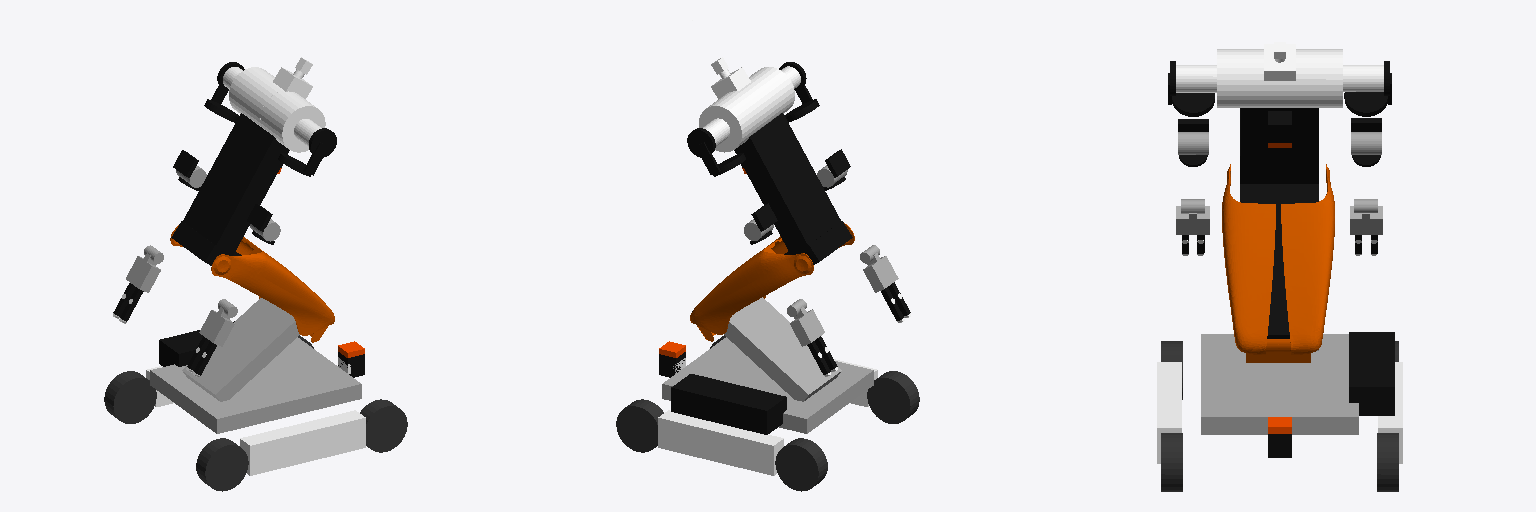
--- Render facts (derived) ---
Views: 3 orthographic renders of the robot side by side, from view 1: azimuth 30°, elevation 25°; view 2: azimuth 150°, elevation 25°; view 3: azimuth 270°, elevation 25°.
Model sergio with 79 links and 78 joints (28 revolute, 50 fixed), rooted at base_link, posed all joints at 0 but 3 set to mid-range because 0 is outside their limits (ankle_joint = 0.576, knee_joint = 1.24, hip_joint = 1.66).
Visible links, largest first — view 1: torso_mounting_frame, trunk_inside, lower_rear_leg, upper_leg, sidepot_right, shoulder_mount_right, wheel_right_rear, wheel_left_rear, wheel_right_front, shoulder_mount_left, batteries, upper_leg_inside (+3 smaller); view 2: trunk_inside, torso_mounting_frame, lower_rear_leg, upper_leg, sidepot_left, batteries, shoulder_mount_left, wheel_left_rear, wheel_right_rear, wheel_left_front, shoulder_mount_right, upper_leg_inside (+3 smaller); view 3: upper_leg, torso_mounting_frame, trunk_inside, batteries, shoulder_mount_right, upper_leg_inside, shoulder_mount_left, sidepot_right, wheel_right_front, wheel_left_front, pitch_axis_right, pitch_axis_left (+10 smaller).
Link boxes in pixels (box(x1,y1,x2,y2)): torso_mounting_frame: box(150, 337, 361, 433); trunk_inside: box(183, 113, 289, 257); lower_rear_leg: box(182, 298, 299, 401); upper_leg: box(170, 225, 334, 342); sidepot_right: box(240, 410, 365, 475); shoulder_mount_right: box(261, 91, 325, 152); wheel_right_rear: box(196, 438, 248, 491); wheel_left_rear: box(104, 371, 156, 423); wheel_right_front: box(360, 399, 407, 452); shoulder_mount_left: box(229, 67, 283, 126); batteries: box(159, 321, 234, 366); upper_leg_inside: box(171, 221, 241, 265); trunk_inside: box(734, 113, 840, 255); torso_mounting_frame: box(662, 337, 873, 433); lower_rear_leg: box(724, 297, 841, 401); upper_leg: box(690, 223, 854, 341); sidepot_left: box(658, 410, 783, 475); batteries: box(671, 374, 786, 434); shoulder_mount_left: box(699, 83, 773, 152); wheel_left_rear: box(775, 438, 827, 491); wheel_right_rear: box(867, 371, 919, 423); wheel_left_front: box(616, 399, 663, 452); shoulder_mount_right: box(749, 67, 794, 119); upper_leg_inside: box(692, 221, 852, 311); upper_leg: box(1222, 164, 1334, 362); torso_mounting_frame: box(1201, 334, 1358, 434); trunk_inside: box(1240, 108, 1318, 183); batteries: box(1349, 332, 1394, 415); shoulder_mount_right: box(1217, 49, 1291, 107); upper_leg_inside: box(1240, 184, 1318, 338); shoulder_mount_left: box(1292, 49, 1342, 107); sidepot_right: box(1157, 362, 1181, 463); wheel_right_front: box(1161, 433, 1182, 491); wheel_left_front: box(1377, 433, 1398, 491); pitch_axis_right: box(1176, 65, 1216, 92); pitch_axis_left: box(1343, 65, 1383, 91).
Size in the robot's own frame: 0.7147 by 0.623 by 1.31 metres.
Meshes: 6 distinct files referenced, 1 mesh visuals loaded (1 Collada DAE); not drawn: 7 (reference not matched to a file when rendering).

robot.urdf — sergio:
<?xml version="1.0" ?>
<!-- =================================================================================== -->
<!-- |    This document was autogenerated by xacro from [local-path]/ros/hydro/system/src/sergio_description/scripts/../urdf/xacro/sergio.urdf.xacro | -->
<!-- |    EDITING THIS FILE BY HAND IS NOT RECOMMENDED                                 | -->
<!-- =================================================================================== -->
<robot name="sergio" xmlns:controller="http://playerstage.sourceforge.net/gazebo/xmlschema/#controller" xmlns:interface="http://playerstage.sourceforge.net/gazebo/xmlschema/#interface" xmlns:sensor="http://playerstage.sourceforge.net/gazebo/xmlschema/#sensor" xmlns:xacro="http://ros.org/wiki/xacro">
  <!--xmlns:sensor="http://playerstage.sourceforge.net/gazebo/xmlschema/#sensor"
       xmlns:controller="http://playerstage.sourceforge.net/gazebo/xmlschema/#controller"
       xmlns:interface="http://playerstage.sourceforge.net/gazebo/xmlschema/#interface">-->
  <author>Janno Lunenburg</author>
  <license>BSD</license>
  <review notes="" status="unreviewed"/>
  <!-- ToDo: In general: look at DH conventions-->
  <!--get link & joint definitions -->
  <!--Definitions from default package?-->
  <!--get link & joint definitions -->
  <!--<xacro:include filename="$(find sergio_robot_model)/description/definitions.xacro" />-->
  <author>Kris van Tienhoven</author>
  <license>BSD</license>
  <review notes="" status="unreviewed"/>
  <!--get custom materials -->
  <author>Kris van Tienhoven</author>
  <license>BSD</license>
  <review notes="" status="unreviewed"/>
  <material name="Blue">
    <color rgba="0.0 0.0 0.8 1.0"/>
  </material>
  <material name="Green">
    <color rgba="0.0 0.8 0.0 1.0"/>
  </material>
  <material name="Grey">
    <color rgba="0.7 0.7 0.7 1.0"/>
  </material>
  <material name="Grey2">
    <color rgba="0.9 0.9 0.9 1.0"/>
  </material>
  <material name="Red">
    <color rgba="0.8 0.0 0.0 1.0"/>
  </material>
  <material name="White">
    <color rgba="1.0 1.0 1.0 1.0"/>
  </material>
  <material name="Black">
    <color rgba="0.1 0.1 0.1 1.0"/>
  </material>
  <material name="LightGrey">
    <color rgba="0.6 0.6 0.6 1.0"/>
  </material>
  <material name="DarkGrey">
    <color rgba="0.25 0.25 0.25 1.0"/>
  </material>
  <material name="Orange">
    <color rgba="1.0 0.33 0.0 1.0"/>
  </material>
  <material name="sergio_description/bottomcovers">
    <texture filename="package://sergio_description/media/materials/textures/bottomcovers/finalreduced.jpg"/>
  </material>
  <material name="sergio_description/white">
    <texture filename="package://sergio_description/media/materials/textures/white/white.jpg"/>
  </material>
  <material name="sergio_description/logo">
    <texture filename="package://sergio_description/media/materials/textures/logo/tue.jpg"/>
  </material>
  <material name="sergio_description/aluminium">
    <texture filename="package://sergio_description/media/materials/textures/aluminium/aluminium_0001_c.jpg"/>
  </material>
  <material name="sergio_description/orange">
    <texture filename="package://sergio_description/media/materials/textures/orange/orange.jpg"/>
  </material>
  <!--========BUILD BASE======-->
  <author>Janno Lunenburg</author>
  <license>BSD</license>
  <review notes="" status="unreviewed"/>
  <link name="base_link">
    <inertial>
      <origin rpy="0 0 0" xyz="0.0 0.0 0.0"/>
      <mass value="0"/>
      <inertia ixx="0" ixy="0" ixz="0" iyy="0" iyz="0" izz="0"/>
    </inertial>
    <visual>
      <origin rpy="0 0 0" xyz="0.0 0.0 0.0"/>
      <geometry>
        <cylinder length="0.00" radius="0.0"/>
      </geometry>
      <material name="White">
     </material>
    </visual>
    <collision>
      <origin rpy="0 0 0" xyz="0.0 0.0 0.0"/>
      <geometry>
        <cylinder length="0.00" radius="0.0"/>
      </geometry>
    </collision>
  </link>
  <gazebo reference="base_link">
    <material>Gazebo/White</material>
    <turnGravityOff>false</turnGravityOff>
  </gazebo>
  <link name="base">
    <inertial>
      <origin rpy="0 0 1.57" xyz="-0.295 0.10 -0.14"/>
      <mass value="0.1"/>
      <inertia ixx="0.001" ixy="0" ixz="0" iyy="0.001" iyz="0" izz="0.001"/>
    </inertial>
    <visual>
      <origin rpy="0 0 1.57" xyz="-0.295 0.10 -0.14"/>
      <geometry>
        <mesh filename="package://sergio_description/media/meshes/Base2.dae" scale="0.01 0.01 0.01"/>
      </geometry>
      <material name="sergio_description/white"/>
    </visual>
    <collision>
      <origin rpy="0 0 1.57" xyz="-0.295 0.10 -0.14"/>
      <geometry>
        <mesh filename="package://sergio_description/media/meshes/Base2.dae" scale="0.01 0.01 0.01"/>
      </geometry>
    </collision>
  </link>
  <gazebo reference="base">
    <material>sergio_description/white</material>
    <turnGravityOff>false</turnGravityOff>
  </gazebo>
  <link name="sidepot_left">
    <inertial>
      <origin rpy="0 0 0" xyz="0.0 0.0 0.0"/>
      <mass value="0.1"/>
      <inertia ixx="0.001" ixy="0" ixz="0" iyy="0.001" iyz="0" izz="0.001"/>
    </inertial>
    <visual>
      <origin rpy="0 0 0" xyz="0.0 0.0 0.0"/>
      <geometry>
        <box size="0.400 0.0615 0.1"/>
      </geometry>
      <material name="White">
     </material>
    </visual>
    <collision>
      <origin rpy="0 0 0" xyz="0.0 0.0 0.0"/>
      <geometry>
        <box size="0.400 0.0615 0.1"/>
      </geometry>
    </collision>
  </link>
  <gazebo reference="sidepot_left">
    <material>Gazebo/White</material>
    <turnGravityOff>false</turnGravityOff>
  </gazebo>
  <link name="sidepot_right">
    <inertial>
      <origin rpy="0 0 0" xyz="0.0 0.0 0.0"/>
      <mass value="0.1"/>
      <inertia ixx="0.001" ixy="0" ixz="0" iyy="0.001" iyz="0" izz="0.001"/>
    </inertial>
    <visual>
      <origin rpy="0 0 0" xyz="0.0 0.0 0.0"/>
      <geometry>
        <box size="0.400 0.0615 0.1"/>
      </geometry>
      <material name="White">
     </material>
    </visual>
    <collision>
      <origin rpy="0 0 0" xyz="0.0 0.0 0.0"/>
      <geometry>
        <box size="0.400 0.0615 0.1"/>
      </geometry>
    </collision>
  </link>
  <gazebo reference="sidepot_right">
    <material>Gazebo/White</material>
    <turnGravityOff>false</turnGravityOff>
  </gazebo>
  <link name="base_torso_mount">
    <inertial>
      <origin rpy="0 0 0" xyz="0.0 0.0 0.0"/>
      <mass value="0"/>
      <inertia ixx="0" ixy="0" ixz="0" iyy="0" iyz="0" izz="0"/>
    </inertial>
    <visual>
      <origin rpy="0 0 0" xyz="0.0 0.0 0.0"/>
      <geometry>
        <cylinder length="0.00" radius="0.0"/>
      </geometry>
      <material name="White">
     </material>
    </visual>
    <collision>
      <origin rpy="0 0 0" xyz="0.0 0.0 0.0"/>
      <geometry>
        <cylinder length="0.00" radius="0.0"/>
      </geometry>
    </collision>
  </link>
  <gazebo reference="base_torso_mount">
    <material>Gazebo/White</material>
    <turnGravityOff>false</turnGravityOff>
  </gazebo>
  <link name="laser_mount">
    <inertial>
      <origin rpy="0 0 0" xyz="0.005 0.0 0.0175"/>
      <mass value="0.01"/>
      <inertia ixx="0.0001" ixy="0" ixz="0" iyy="0.0001" iyz="0" izz="0.0001"/>
    </inertial>
    <visual>
      <origin rpy="0 0 0" xyz="0.005 0.0 0.0175"/>
      <geometry>
        <box size="0.01 0.06 0.035"/>
      </geometry>
      <material name="White">
     </material>
    </visual>
    <collision>
      <origin rpy="0 0 0" xyz="0.005 0.0 0.0175"/>
      <geometry>
        <box size="0.01 0.06 0.035"/>
      </geometry>
    </collision>
  </link>
  <gazebo reference="laser_mount">
    <material>Gazebo/White</material>
    <turnGravityOff>false</turnGravityOff>
  </gazebo>
  <link name="wheel_right_front">
    <inertial>
      <origin rpy="0.0 0 0" xyz="0.0 0.0 0.0"/>
      <mass value="0"/>
      <inertia ixx="0" ixy="0" ixz="0" iyy="0" iyz="0" izz="0"/>
    </inertial>
    <visual>
      <origin rpy="0.0 0 0" xyz="0.0 0.0 0.0"/>
      <geometry>
        <cylinder length="0.055" radius="0.075"/>
      </geometry>
      <material name="DarkGrey">
     </material>
    </visual>
    <collision>
      <origin rpy="0.0 0 0" xyz="0.0 0.0 0.0"/>
      <geometry>
        <cylinder length="0.055" radius="0.075"/>
      </geometry>
    </collision>
  </link>
  <gazebo reference="wheel_right_front">
    <material>Gazebo/DarkGrey</material>
    <turnGravityOff>false</turnGravityOff>
  </gazebo>
  <link name="wheel_left_front">
    <inertial>
      <origin rpy="0.0 0 0" xyz="0.0 0.0 0.0"/>
      <mass value="0"/>
      <inertia ixx="0" ixy="0" ixz="0" iyy="0" iyz="0" izz="0"/>
    </inertial>
    <visual>
      <origin rpy="0.0 0 0" xyz="0.0 0.0 0.0"/>
      <geometry>
        <cylinder length="0.055" radius="0.075"/>
      </geometry>
      <material name="DarkGrey">
     </material>
    </visual>
    <collision>
      <origin rpy="0.0 0 0" xyz="0.0 0.0 0.0"/>
      <geometry>
        <cylinder length="0.055" radius="0.075"/>
      </geometry>
    </collision>
  </link>
  <gazebo reference="wheel_left_front">
    <material>Gazebo/DarkGrey</material>
    <turnGravityOff>false</turnGravityOff>
  </gazebo>
  <link name="wheel_right_rear">
    <inertial>
      <origin rpy="0.0 0 0" xyz="0.0 0.0 0.0"/>
      <mass value="0"/>
      <inertia ixx="0" ixy="0" ixz="0" iyy="0" iyz="0" izz="0"/>
    </inertial>
    <visual>
      <origin rpy="0.0 0 0" xyz="0.0 0.0 0.0"/>
      <geometry>
        <cylinder length="0.055" radius="0.075"/>
      </geometry>
      <material name="DarkGrey">
     </material>
    </visual>
    <collision>
      <origin rpy="0.0 0 0" xyz="0.0 0.0 0.0"/>
      <geometry>
        <cylinder length="0.055" radius="0.075"/>
      </geometry>
    </collision>
  </link>
  <gazebo reference="wheel_right_rear">
    <material>Gazebo/DarkGrey</material>
    <turnGravityOff>false</turnGravityOff>
  </gazebo>
  <link name="wheel_left_rear">
    <inertial>
      <origin rpy="0.0 0 0" xyz="0.0 0.0 0.0"/>
      <mass value="0"/>
      <inertia ixx="0" ixy="0" ixz="0" iyy="0" iyz="0" izz="0"/>
    </inertial>
    <visual>
      <origin rpy="0.0 0 0" xyz="0.0 0.0 0.0"/>
      <geometry>
        <cylinder length="0.055" radius="0.075"/>
      </geometry>
      <material name="DarkGrey">
     </material>
    </visual>
    <collision>
      <origin rpy="0.0 0 0" xyz="0.0 0.0 0.0"/>
      <geometry>
        <cylinder length="0.055" radius="0.075"/>
      </geometry>
    </collision>
  </link>
  <gazebo reference="wheel_left_rear">
    <material>Gazebo/DarkGrey</material>
    <turnGravityOff>false</turnGravityOff>
  </gazebo>
  <link name="batteries">
    <inertial>
      <origin rpy="0 0 0" xyz="0.0 0.0 0.0"/>
      <mass value="0.1"/>
      <inertia ixx="0.001" ixy="0" ixz="0" iyy="0.001" iyz="0" izz="0.001"/>
    </inertial>
    <visual>
      <origin rpy="0 0 0" xyz="0.0 0.0 0.0"/>
      <geometry>
        <box size="0.332 0.117 0.08"/>
      </geometry>
      <material name="Black">
     </material>
    </visual>
    <collision>
      <origin rpy="0 0 0" xyz="0.0 0.0 0.0"/>
      <geometry>
        <box size="0.332 0.117 0.08"/>
      </geometry>
    </collision>
  </link>
  <gazebo reference="batteries">
    <material>Gazebo/Black</material>
    <turnGravityOff>false</turnGravityOff>
  </gazebo>
  <joint name="base_link_joint" type="fixed">
    <parent link="base_link"/>
    <child link="base"/>
    <axis xyz="1 0 0"/>
    <origin rpy="0 0 0" xyz="0.0 0.0 0.085"/>
    <!--ToDO: adjust height-->
  </joint>
  <joint name="sidepot_left_joint" type="fixed">
    <parent link="base"/>
    <child link="sidepot_left"/>
    <axis xyz="1 0 0"/>
    <origin rpy="0 0 0" xyz="0.0 0.28075 0.0"/>
    <!--ToDO: adjust distance-->
  </joint>
  <joint name="sidepot_right_joint" type="fixed">
    <parent link="base"/>
    <child link="sidepot_right"/>
    <axis xyz="1 0 0"/>
    <origin rpy="0 0 0" xyz="0.0 -0.28075 0.0"/>
    <!--ToDO: adjust distance-->
  </joint>
  <joint name="base_mount_joint" type="fixed">
    <parent link="base"/>
    <child link="base_torso_mount"/>
    <origin rpy="0 0 0.0" xyz="0.0 0.0 0.055"/>
    <!--ToDo: adjust height-->
  </joint>
  <joint name="laser_mount_joint" type="fixed">
    <parent link="base"/>
    <child link="laser_mount"/>
    <origin rpy="0.0 0.0 0.0" xyz="0.2995 0.0 0.055"/>
  </joint>
  <joint name="wheel_right_front_joint" type="fixed">
    <parent link="base_link"/>
    <child link="wheel_right_front"/>
    <origin rpy="1.57 0.0 0.0" xyz="0.275 -0.275 0.075"/>
  </joint>
  <joint name="wheel_left_front_joint" type="fixed">
    <parent link="base_link"/>
    <child link="wheel_left_front"/>
    <origin rpy="1.57 0.0 0.0" xyz="0.275 0.275 0.075"/>
  </joint>
  <joint name="wheel_right_rear_joint" type="fixed">
    <parent link="base_link"/>
    <child link="wheel_right_rear"/>
    <origin rpy="1.57 0.0 0.0" xyz="-0.275 -0.275 0.075"/>
  </joint>
  <joint name="wheel_left_rear_joint" type="fixed">
    <parent link="base_link"/>
    <child link="wheel_left_rear"/>
    <origin rpy="1.57 0.0 0.0" xyz="-0.275 0.275 0.075"/>
  </joint>
  <joint name="battery_joint" type="fixed">
    <parent link="base_link"/>
    <child link="batteries"/>
    <origin rpy="0.0 0.0 0.0" xyz="0.0 0.2335 0.194"/>
  </joint>
  <!--========BUILD TORSO======-->
  <author>Rob Janssen, Kris van Tienhoven</author>
  <license>BSD</license>
  <review notes="" status="unreviewed"/>
  <link name="torso_mounting_frame">
    <inertial>
      <origin rpy="0 0 0" xyz="0.0 0.0 0.025"/>
      <mass value="0.1"/>
      <inertia ixx="0.001" ixy="0" ixz="0" iyy="0.001" iyz="0" izz="0.001"/>
    </inertial>
    <visual>
      <origin rpy="0 0 0" xyz="0.0 0.0 0.025"/>
      <geometry>
        <box size="0.500 0.400 0.05"/>
      </geometry>
      <material name="Grey">
     </material>
    </visual>
    <collision>
      <origin rpy="0 0 0" xyz="0.0 0.0 0.025"/>
      <geometry>
        <box size="0.500 0.400 0.05"/>
      </geometry>
    </collision>
  </link>
  <gazebo reference="torso_mounting_frame">
    <material>Gazebo/Grey</material>
    <turnGravityOff>false</turnGravityOff>
  </gazebo>
  <link name="lower_rear_leg">
    <inertial>
      <origin rpy="0 0 0" xyz="0.195 0.0 0.0"/>
      <mass value="5"/>
      <inertia ixx="0.001" ixy="0" ixz="0" iyy="0.001" iyz="0" izz="0.001"/>
    </inertial>
    <visual>
      <origin rpy="0 0 0" xyz="0.195 0.0 0.0"/>
      <geometry>
        <box size="0.390 0.200 0.05"/>
      </geometry>
      <material name="Grey">
     </material>
    </visual>
    <collision>
      <origin rpy="0 0 0" xyz="0.195 0.0 0.0"/>
      <geometry>
        <box size="0.390 0.200 0.05"/>
      </geometry>
    </collision>
  </link>
  <gazebo reference="lower_rear_leg">
    <material>Gazebo/Grey</material>
    <turnGravityOff>false</turnGravityOff>
  </gazebo>
  <link name="upper_leg">
    <inertial>
      <origin rpy="0 0 1.57" xyz="0.41575 -0.10 -0.02"/>
      <mass value="5"/>
      <inertia ixx="0.001" ixy="0" ixz="0" iyy="0.001" iyz="0" izz="0.001"/>
    </inertial>
    <visual>
      <origin rpy="0 0 1.57" xyz="0.41575 -0.10 -0.02"/>
      <geometry>
        <mesh filename="package://sergio_description/media/meshes/upper_leg_reduced10000.dae" scale="0.01 0.01 0.01"/>
      </geometry>
      <material name="sergio_description/white"/>
    </visual>
    <collision>
      <origin rpy="0 0 1.57" xyz="0.41575 -0.10 -0.02"/>
      <geometry>
        <mesh filename="package://sergio_description/media/meshes/upper_leg_reduced10000.dae" scale="0.01 0.01 0.01"/>
      </geometry>
    </collision>
  </link>
  <gazebo reference="upper_leg">
    <material>sergio_description/white</material>
    <turnGravityOff>false</turnGravityOff>
  </gazebo>
  <link name="upper_leg_inside">
    <inertial>
      <origin rpy="0 0 0" xyz="0.20 0.0 0.0"/>
      <mass value="0.001"/>
      <inertia ixx="0.001" ixy="0" ixz="0" iyy="0.001" iyz="0" izz="0.001"/>
    </inertial>
    <visual>
      <origin rpy="0 0 0" xyz="0.20 0.0 0.0"/>
      <geometry>
        <box size="0.5115 0.200 0.06"/>
      </geometry>
      <material name="Black">
     </material>
    </visual>
    <collision>
      <origin rpy="0 0 0" xyz="0.20 0.0 0.0"/>
      <geometry>
        <box size="0.5115 0.200 0.06"/>
      </geometry>
    </collision>
  </link>
  <gazebo reference="upper_leg_inside">
    <material>Gazebo/Black</material>
    <turnGravityOff>false</turnGravityOff>
  </gazebo>
  <link name="trunk">
    <inertial>
      <origin rpy="3.1415 1.73 0" xyz="0.16 -0.11 0.0"/>
      <mass value="10"/>
      <inertia ixx="0.001" ixy="0" ixz="0" iyy="0.001" iyz="0" izz="0.001"/>
    </inertial>
    <visual>
      <origin rpy="3.1415 1.73 0" xyz="0.16 -0.11 0.0"/>
      <geometry>
        <mesh filename="package://sergio_description/media/meshes/torso.dae" scale="0.01 0.01 0.01"/>
      </geometry>
      <material name="sergio_description/white"/>
    </visual>
    <collision>
      <origin rpy="3.1415 1.73 0" xyz="0.16 -0.11 0.0"/>
      <geometry>
        <mesh filename="package://sergio_description/media/meshes/torso.dae" scale="0.01 0.01 0.01"/>
      </geometry>
    </collision>
  </link>
  <gazebo reference="trunk">
    <material>sergio_description/white</material>
    <turnGravityOff>false</turnGravityOff>
  </gazebo>
  <link name="trunk_inside">
    <inertial>
      <origin rpy="0 0 0" xyz="0.235 0.0 0.0"/>
      <mass value="0.001"/>
      <inertia ixx="0.001" ixy="0" ixz="0" iyy="0.001" iyz="0" izz="0.001"/>
    </inertial>
    <visual>
      <origin rpy="0 0 0" xyz="0.235 0.0 0.0"/>
      <geometry>
        <box size="0.470 0.200 0.075"/>
      </geometry>
      <material name="Black">
     </material>
    </visual>
    <collision>
      <origin rpy="0 0 0" xyz="0.235 0.0 0.0"/>
      <geometry>
        <box size="0.470 0.200 0.075"/>
      </geometry>
    </collision>
  </link>
  <gazebo reference="trunk_inside">
    <material>Gazebo/Black</material>
    <turnGravityOff>false</turnGravityOff>
  </gazebo>
  <link name="torso_laser_mount">
    <inertial>
      <origin rpy="0 0 0" xyz="0.0 0.0 0.0"/>
      <mass value="0.01"/>
      <inertia ixx="0.0001" ixy="0" ixz="0" iyy="0.0001" iyz="0" izz="0.0001"/>
    </inertial>
    <visual>
      <origin rpy="0 0 0" xyz="0.0 0.0 0.0"/>
      <geometry>
        <box size="0.0 0.0 0.0"/>
      </geometry>
      <material name="Black">
     </material>
    </visual>
    <collision>
      <origin rpy="0 0 0" xyz="0.0 0.0 0.0"/>
      <geometry>
        <box size="0.0 0.0 0.0"/>
      </geometry>
    </collision>
  </link>
  <gazebo reference="torso_laser_mount">
    <material>Gazebo/Black</material>
    <turnGravityOff>false</turnGravityOff>
  </gazebo>
  <joint name="torso_mount_joint" type="fixed">
    <parent link="base_torso_mount"/>
    <child link="torso_mounting_frame"/>
    <origin rpy="0 0 0.0" xyz="0.0 0.0 0.0"/>
    <!--ToDo: adjust height-->
  </joint>
  <joint name="ankle_joint" type="revolute">
    <parent link="torso_mounting_frame"/>
    <child link="lower_rear_leg"/>
    <origin rpy="0 0 0" xyz="-0.185 0.0 0.0565"/>
    <axis xyz="0 -1 0"/>
    <dynamics damping="6.0" friction="4.87"/>
    <limit effort="1000" lower="0.152" upper="1.00" velocity="0.265"/>
  </joint>
  <joint name="knee_joint" type="revolute">
    <parent link="lower_rear_leg"/>
    <child link="upper_leg"/>
    <origin rpy="3.14 3.14 0.0" xyz="0.390 0.0 0.0"/>
    <axis xyz="0 -1 0"/>
    <dynamics damping="6.0" friction="4.87"/>
    <limit effort="1000" lower="0.419" upper="2.059" velocity="0.539"/>
  </joint>
  <joint name="upper_leg_inside_joint" type="fixed">
    <parent link="upper_leg"/>
    <child link="upper_leg_inside"/>
    <origin rpy="0 0 0.0" xyz="0.0 0.0 0.0"/>
  </joint>
  <joint name="hip_joint" type="revolute">
    <parent link="upper_leg"/>
    <child link="trunk"/>
    <origin rpy="3.14 3.14 0.0" xyz="0.4115 0.0 0.0"/>
    <axis xyz="0 -1 0"/>
    <dynamics damping="6.0" friction="4.87"/>
    <limit effort="1000" lower="1.007" upper="2.31" velocity="0.375"/>
  </joint>
  <joint name="trunk_inside_joint" type="fixed">
    <parent link="trunk"/>
    <child link="trunk_inside"/>
    <origin rpy="0 0 0.0" xyz="0.0 0.0 0.0"/>
  </joint>
  <joint name="laser_tilt_joint" type="revolute">
    <parent link="trunk"/>
    <child link="torso_laser_mount"/>
    <origin rpy="3.14 1.406 0.0 " xyz="0.3163 0.0 -0.0671"/>
    <dynamics damping="0.1" friction="0"/>
    <!--ToDo: update-->
    <axis xyz="0 1 0"/>
    <limit effort="13.4" lower="0.0" upper="0.3173" velocity="1.0"/>
    <!--ToDo: update-->
  </joint>
  <!--========BUILD ARMS======-->
  <author>Rob Janssen, Kris van Tienhoven, Janno Lunenburg</author>
  <license>BSD</license>
  <review notes="" status="unreviewed"/>
  <link name="shoulder_mount_right">
    <inertial>
      <origin rpy="1.57 0 0" xyz="0.0 -0.155 0.0"/>
      <mass value="0.15"/>
      <inertia ixx="0.01" ixy="0" ixz="0" iyy="0.01" iyz="0" izz="0.01"/>
    </inertial>
    <visual>
      <origin rpy="1.57 0 0 " xyz="0.0 -0.155 0.0"/>
      <geometry>
        <cylinder length="0.190" radius="0.075"/>
      </geometry>
      <material name="White">
     </material>
    </visual>
    <collision>
      <origin rpy="1.57 0 0 " xyz="0.0 -0.155 0.0"/>
      <geometry>
        <cylinder length="0.190" radius="0.075"/>
      </geometry>
    </collision>
  </link>
  <gazebo reference="shoulder_mount_right">
    <material>Gazebo/White</material>
    <turnGravityOff>false</turnGravityOff>
  </gazebo>
  <link name="shoulder_link1_right">
    <inertial>
      <origin rpy="0 0 0" xyz="0.0 0.0 0.0"/>
      <mass value="0.25"/>
      <inertia ixx="6.0" ixy="0" ixz="0" iyy="0.01" iyz="0" izz="0.01"/>
    </inertial>
    <visual>
      <origin rpy="0 0 0 " xyz="0.0 0.0 0.0525"/>
      <geometry>
        <cylinder length="0.015" radius="0.045"/>
      </geometry>
      <material name="Black">
     </material>
    </visual>
    <collision>
      <origin rpy="0 0 0 " xyz="0.0 0.0 0.0525"/>
      <geometry>
        <cylinder length="0.015" radius="0.045"/>
      </geometry>
    </collision>
  </link>
  <gazebo reference="shoulder_link1_right">
    <material>Gazebo/Black</material>
    <turnGravityOff>false</turnGravityOff>
  </gazebo>
  <link name="shoulder_link2_right">
    <inertial>
      <origin rpy="0 0 0" xyz="0.0 0.0 0.0"/>
      <mass value="0.15"/>
      <inertia ixx="0.01" ixy="0" ixz="0" iyy="4.04" iyz="0" izz="0.001"/>
    </inertial>
    <visual>
      <origin rpy="0 0 0" xyz="0.0 -0.06 -0.05"/>
      <geometry>
        <box size="0.035 0.01 0.1"/>
      </geometry>
      <material name="Black">
     </material>
    </visual>
    <collision>
      <origin rpy="0 0 0" xyz="0.0 -0.06 -0.05"/>
      <geometry>
        <box size="0.035 0.01 0.1"/>
      </geometry>
    </collision>
  </link>
  <gazebo reference="shoulder_link2_right">
    <material>Gazebo/Black</material>
    <turnGravityOff>false</turnGravityOff>
  </gazebo>
  <link name="upper_arm_right">
    <inertial>
      <origin rpy="0 0 0" xyz="0.0 -0.2 0.0"/>
      <mass value="2.95"/>
      <inertia ixx="0.027" ixy="0" ixz="0" iyy="0.45993" iyz="0" izz="0.004"/>
    </inertial>
    <visual>
      <origin rpy="0 0 3.1415" xyz="-0.00959 -0.19131 -0.00001"/>
      <geometry>
        <mesh filename="package://sergio_description/media/meshes/upperarmtextured.dae" scale="0.0004 0.0004 0.0004"/>
      </geometry>
      <material name="sergio_description/white"/>
    </visual>
    <collision>
      <origin rpy="0 0 3.1415" xyz="-0.00959 -0.19131 -0.00001"/>
      <geometry>
        <mesh filename="package://sergio_description/media/meshes/upperarmtextured.dae" scale="0.0004 0.0004 0.0004"/>
      </geometry>
    </collision>
  </link>
  <gazebo reference="upper_arm_right">
    <material>sergio_description/white</material>
    <turnGravityOff>false</turnGravityOff>
  </gazebo>
  <link name="elbow_link4_right">
    <inertial>
      <origin rpy="0 0 0" xyz="0.0 0.0 0.0"/>
      <mass value="0.1"/>
      <inertia ixx="0.001" ixy="0" ixz="0" iyy="0.6" iyz="0" izz="0.001"/>
    </inertial>
    <visual>
      <origin rpy="0 0 0" xyz="0.0 0.0 0.0"/>
      <geometry>
        <cylinder length="0.0" radius="0.0"/>
      </geometry>
      <material name="Grey">
     </material>
    </visual>
    <collision>
      <origin rpy="0 0 0" xyz="0.0 0.0 0.0"/>
      <geometry>
        <cylinder length="0.0" radius="0.0"/>
      </geometry>
    </collision>
  </link>
  <gazebo reference="elbow_link4_right">
    <material>Gazebo/Grey</material>
    <turnGravityOff>false</turnGravityOff>
  </gazebo>
  <link name="fore_arm_right">
    <inertial>
      <origin rpy="0.0 0 0" xyz="0.0 -0.14 0.0"/>
      <mass value="0.85"/>
      <inertia ixx="0.001" ixy="0" ixz="0" iyy="0.5" iyz="0" izz="0.001"/>
    </inertial>
    <visual>
      <origin rpy="0 -1.5708 0" xyz="0.00425 -0.14868 0.00547"/>
      <geometry>
        <mesh filename="package://sergio_description/media/meshes/forearmtextured.dae" scale="0.0004 0.0004 0.0004"/>
      </geometry>
      <material name="sergio_description/white"/>
    </visual>
    <collision>
      <origin rpy="0 -1.5708 0" xyz="0.00425 -0.14868 0.00547"/>
      <geometry>
        <mesh filename="package://sergio_description/media/meshes/forearmtextured.dae" scale="0.0004 0.0004 0.0004"/>
      </geometry>
    </collision>
  </link>
  <gazebo reference="fore_arm_right">
    <material>sergio_description/white</material>
    <turnGravityOff>false</turnGravityOff>
  </gazebo>
  <link name="wrist_link6_right">
    <inertial>
      <origin rpy="0 0 0" xyz="0.0 0.0 0.0"/>
      <mass value="0.01"/>
      <inertia ixx="0.001" ixy="0" ixz="0" iyy="0.03322" iyz="0" izz="0.001"/>
    </inertial>
    <visual>
      <origin rpy="1.5708 0 0" xyz="0.0 0.0 0.0"/>
      <geometry>
        <cylinder length="0.0" radius="0.0"/>
      </geometry>
      <material name="Black">
     </material>
    </visual>
    <collision>
      <origin rpy="1.5708 0 0" xyz="0.0 0.0 0.0"/>
      <geometry>
        <cylinder length="0.0" radius="0.0"/>
      </geometry>
    </collision>
  </link>
  <gazebo reference="wrist_link6_right">
    <material>Gazebo/Black</material>
    <turnGravityOff>false</turnGravityOff>
  </gazebo>
  <link name="hand_right">
    <inertial>
      <origin rpy="0 0 0" xyz="0.048 0.0 0.0"/>
      <mass value="0.2"/>
      <inertia ixx="0.01" ixy="0" ixz="0" iyy="0.01" iyz="0" izz="0.0622"/>
    </inertial>
    <visual>
      <origin rpy="0 0 0" xyz="0.048 0.0 0.0"/>
      <geometry>
        <box size="0.080 0.085 0.038"/>
      </geometry>
      <material name="Grey">
     </material>
    </visual>
    <collision>
      <origin rpy="0 0 0" xyz="0.048 0.0 0.0"/>
      <geometry>
        <box size="0.080 0.085 0.038"/>
      </geometry>
    </collision>
  </link>
  <gazebo reference="hand_right">
    <material>Gazebo/Grey</material>
    <turnGravityOff>false</turnGravityOff>
  </gazebo>
  <link name="finger1_right">
    <inertial>
      <origin rpy="0 0 0" xyz="0.0 0.0 -0.03"/>
      <mass value="0.01"/>
      <inertia ixx="0.01" ixy="0" ixz="0" iyy="0.01" iyz="0" izz="0.01"/>
    </inertial>
    <visual>
      <origin rpy="0 0 0" xyz="0.0 0.0 -0.03"/>
      <geometry>
        <box size="0.018 0.018 0.06"/>
      </geometry>
      <material name="Black">
     </material>
    </visual>
    <collision>
      <origin rpy="0 0 0" xyz="0.0 0.0 -0.03"/>
      <geometry>
        <box size="0.018 0.018 0.06"/>
      </geometry>
    </collision>
  </link>
  <gazebo reference="finger1_right">
    <material>Gazebo/Black</material>
    <turnGravityOff>false</turnGravityOff>
  </gazebo>
  <gazebo reference="finger1_right">
    <mu1 value="100.0"/>
    <mu2 value="100.0"/>
  </gazebo>
  <link name="finger1_phalanx_right">
    <inertial>
      <origin rpy="0 0 0" xyz="0.0 0.0 0"/>
      <mass value="0.01"/>
      <inertia ixx="0.001" ixy="0" ixz="0" iyy="0.001" iyz="0" izz="0.001"/>
    </inertial>
    <visual>
      <origin rpy="0 0 0" xyz="0.0 0.0 0"/>
      <geometry>
        <cylinder length="0.019" radius="0.009"/>
      </geometry>
      <material name="White">
     </material>
    </visual>
    <collision>
      <origin rpy="0 0 0" xyz="0.0 0.0 0"/>
      <geometry>
        <cylinder length="0.019" radius="0.009"/>
      </geometry>
    </collision>
  </link>
  <gazebo reference="finger1_phalanx_right">
    <material>Gazebo/White</material>
    <turnGravityOff>false</turnGravityOff>
  </gazebo>
  <link name="finger1_tip_right">
    <inertial>
      <origin rpy="0 0 0" xyz="0.0 0.0 -0.03"/>
      <mass value="0.01"/>
      <inertia ixx="0.00037" ixy="0" ixz="0" iyy="0.00052" iyz="0" izz="0.00052"/>
    </inertial>
    <visual>
      <origin rpy="0 0 0" xyz="0.0 0.0 -0.03"/>
      <geometry>
        <box size="0.018 0.018 0.06"/>
      </geometry>
      <material name="Black">
     </material>
    </visual>
    <collision>
      <origin rpy="0 0 0" xyz="0.0 0.0 -0.03"/>
      <geometry>
        <box size="0.018 0.018 0.06"/>
      </geometry>
    </collision>
  </link>
  <gazebo reference="finger1_tip_right">
    <material>Gazebo/Black</material>
    <turnGravityOff>false</turnGravityOff>
  </gazebo>
  <gazebo reference="finger1_tip_right">
    <mu1 value="100.0"/>
    <mu2 value="100.0"/>
  </gazebo>
  <link name="finger1_tip_phalanx_right">
    <inertial>
      <origin rpy="0 0 0" xyz="0.0 0.0 0"/>
      <mass value="0.01"/>
      <inertia ixx="0.001" ixy="0" ixz="0" iyy="0.001" iyz="0" izz="0.001"/>
    </inertial>
    <visual>
      <origin rpy="0 0 0" xyz="0.0 0.0 0"/>
      <geometry>
        <cylinder length="0.017" radius="0.009"/>
      </geometry>
      <material name="White">
     </material>
    </visual>
    <collision>
      <origin rpy="0 0 0" xyz="0.0 0.0 0"/>
      <geometry>
        <cylinder length="0.017" radius="0.009"/>
      </geometry>
    </collision>
  </link>
  <gazebo reference="finger1_tip_phalanx_right">
    <material>Gazebo/White</material>
    <turnGravityOff>false</turnGravityOff>
  </gazebo>
  <link name="finger2_right">
    <inertial>
      <origin rpy="0 0 0" xyz="0.0 0.0 -0.03"/>
      <mass value="0.01"/>
      <inertia ixx="0.01" ixy="0" ixz="0" iyy="0.01" iyz="0" izz="0.01"/>
    </inertial>
    <visual>
      <origin rpy="0 0 0" xyz="0.0 0.0 -0.03"/>
      <geometry>
        <box size="0.018 0.018 0.06"/>
      </geometry>
      <material name="Black">
     </material>
    </visual>
    <collision>
      <origin rpy="0 0 0" xyz="0.0 0.0 -0.03"/>
      <geometry>
        <box size="0.018 0.018 0.06"/>
      </geometry>
    </collision>
  </link>
  <gazebo reference="finger2_right">
    <material>Gazebo/Black</material>
    <turnGravityOff>false</turnGravityOff>
  </gazebo>
  <gazebo reference="finger2_right">
    <mu1 value="100.0"/>
    <mu2 value="100.0"/>
  </gazebo>
  <link name="finger2_phalanx_right">
    <inertial>
      <origin rpy="0 0 0" xyz="0.0 0.0 0"/>
      <mass value="0.01"/>
      <inertia ixx="0.001" ixy="0" ixz="0" iyy="0.001" iyz="0" izz="0.001"/>
    </inertial>
    <visual>
      <origin rpy="0 0 0" xyz="0.0 0.0 0"/>
      <geometry>
        <cylinder length="0.019" radius="0.009"/>
      </geometry>
      <material name="White">
     </material>
    </visual>
    <collision>
      <origin rpy="0 0 0" xyz="0.0 0.0 0"/>
      <geometry>
        <cylinder length="0.019" radius="0.009"/>
      </geometry>
    </collision>
  </link>
  <gazebo reference="finger2_phalanx_right">
    <material>Gazebo/White</material>
    <turnGravityOff>false</turnGravityOff>
  </gazebo>
  <link name="finger2_tip_right">
    <inertial>
      <origin rpy="0 0 0" xyz="0.0 0.0 -0.03"/>
      <mass value="0.01"/>
      <inertia ixx="0.00037" ixy="0" ixz="0" iyy="0.00052" iyz="0" izz="0.00052"/>
    </inertial>
    <visual>
      <origin rpy="0 0 0" xyz="0.0 0.0 -0.03"/>
      <geometry>
        <box size="0.018 0.018 0.06"/>
      </geometry>
      <material name="Black">
     </material>
    </visual>
    <collision>
      <origin rpy="0 0 0" xyz="0.0 0.0 -0.03"/>
      <geometry>
        <box size="0.018 0.018 0.06"/>
      </geometry>
    </collision>
  </link>
  <gazebo reference="finger2_tip_right">
    <material>Gazebo/Black</material>
    <turnGravityOff>false</turnGravityOff>
  </gazebo>
  <gazebo reference="finger2_tip_right">
    <mu1 value="100.0"/>
    <mu2 value="100.0"/>
  </gazebo>
  <link name="finger2_tip_phalanx_right">
    <inertial>
      <origin rpy="0 0 0" xyz="0.0 0.0 0"/>
      <mass value="0.01"/>
      <inertia ixx="0.001" ixy="0" ixz="0" iyy="0.001" iyz="0" izz="0.001"/>
    </inertial>
    <visual>
      <origin rpy="0 0 0" xyz="0.0 0.0 0"/>
      <geometry>
        <cylinder length="0.017" radius="0.009"/>
      </geometry>
      <material name="White">
     </material>
    </visual>
    <collision>
      <origin rpy="0 0 0" xyz="0.0 0.0 0"/>
      <geometry>
        <cylinder length="0.017" radius="0.009"/>
      </geometry>
    </collision>
  </link>
  <gazebo reference="finger2_tip_phalanx_right">
    <material>Gazebo/White</material>
    <turnGravityOff>false</turnGravityOff>
  </gazebo>
  <link name="grippoint_right">
    <inertial>
      <origin rpy="0 0 0" xyz="-0.1 0.0 0.0"/>
      <mass value="0.01"/>
      <inertia ixx="0.0001" ixy="0" ixz="0" iyy="0.0001" iyz="0" izz="0.0001"/>
    </inertial>
    <visual>
      <origin rpy="0 0 0 " xyz="-0.1 0.0 0.0"/>
      <geometry>
        <box size="0.0 0.0 0.0"/>
      </geometry>
      <material name="Blue">
     </material>
    </visual>
    <collision>
      <origin rpy="0 0 0 " xyz="-0.1 0.0 0.0"/>
      <geometry>
        <box size="0.0 0.0 0.0"/>
      </geometry>
    </collision>
  </link>
  <gazebo reference="grippoint_right">
    <material>Gazebo/Blue</material>
    <turnGravityOff>false</turnGravityOff>
  </gazebo>
  <joint name="shoulder_mount_joint_right" type="fixed">
    <parent link="trunk"/>
    <child link="shoulder_mount_right"/>
    <origin rpy="3.14 0 0.0" xyz="0.470 -0.22 0.0"/>
    <!-- Check length -->
  </joint>
  <joint name="shoulder_yaw_joint_right" type="revolute">
    <parent link="shoulder_mount_right"/>
    <child link="shoulder_link1_right"/>
    <origin rpy="-1.5708 -1.5708 0" xyz="0 0 0"/>
    <axis xyz="+1 0 0"/>
    <dynamics damping="4.0" friction="4.87"/>
    <limit effort="13.4" lower="-1.57" upper="0.0" velocity="1.0"/>
  </joint>
  <joint name="shoulder_pitch_joint_right" type="revolute">
    <parent link="shoulder_link1_right"/>
    <child link="shoulder_link2_right"/>
    <origin rpy="-1.5708  0 0" xyz="0.0 0.0 0.0"/>
    <axis xyz="0 -1 0"/>
    <dynamics damping="4.0" friction="6.06"/>
    <limit effort="13.4" lower="-1.57" upper="1.57" velocity="1.0"/>
  </joint>
  <joint name="shoulder_roll_joint_right" type="revolute">
    <parent link="shoulder_link2_right"/>
    <child link="upper_arm_right"/>
    <origin rpy="1.5708 0 0.0" xyz="0.0 0.0 0.0"/>
    <axis xyz="0 1.0 0"/>
    <dynamics damping="3.8" friction="2.216"/>
    <limit effort="9.8" lower="-1.57" upper="1.57" velocity="1.0"/>
  </joint>
  <joint name="elbow_pitch_joint_right" type="revolute">
    <parent link="upper_arm_right"/>
    <child link="elbow_link4_right"/>
    <origin rpy="-1.5708 0 0" xyz="0.01 -0.32 0.0"/>
    <axis xyz="0 -1 0"/>
    <dynamics damping="3" friction="1.18"/>
    <limit effort="4.5" lower="0.0" upper="2.23" velocity="1.0"/>
  </joint>
  <joint name="elbow_roll_joint_right" type="revolute">
    <parent link="elbow_link4_right"/>
    <child link="fore_arm_right"/>
    <origin rpy="1.5708 0 0" xyz="0.0 0.0 0.0"/>
    <axis xyz="0 1.0 0"/>
    <dynamics damping="3.5" friction="1.35"/>
    <limit effort="4.5" lower="-1.83" upper="1.83" velocity="1.0"/>
  </joint>
  <joint name="wrist_pitch_joint_right" type="revolute">
    <parent link="fore_arm_right"/>
    <child link="wrist_link6_right"/>
    <origin rpy="-1.5708 0 -1.5708" xyz="0.01 -0.28 0.0"/>
    <axis xyz="0 -1 0"/>
    <dynamics damping="0.35" friction="0.63"/>
    <limit effort="1" lower="-0.95" upper="0.95" velocity="1.0"/>
  </joint>
  <joint name="wrist_yaw_joint_right" type="revolute">
    <parent link="wrist_link6_right"/>
    <child link="hand_right"/>
    <origin rpy="0 0 0" xyz="0.0 0.0 0.0"/>
    <axis xyz="0 0 1.01"/>
    <dynamics damping="0.3" friction="0.68"/>
    <limit effort="1" lower="-0.61" upper="0.61" velocity="1.0"/>
  </joint>
  <joint name="finger1_joint_right" type="revolute">
    <parent link="hand_right"/>
    <child link="finger1_right"/>
    <origin rpy="0 -1.57 0" xyz=" 0.075 0.02 0"/>
    <axis xyz="1 0 0"/>
    <dynamics damping="0.5" friction="1.0"/>
    <limit effort="3" lower="-1.57" upper="1.57" velocity="1.0"/>
  </joint>
  <joint name="finger1_phalanx_joint_right" type="fixed">
    <parent link="finger1_right"/>
    <child link="finger1_phalanx_right"/>
    <origin rpy="0 1.57 0" xyz="0 0 -0.06"/>
  </joint>
  <joint name="finger1_tip_joint_right" type="revolute">
    <parent link="finger1_right"/>
    <child link="finger1_tip_right"/>
    <origin rpy="0 0 0" xyz=" 0 0.0 -0.06"/>
    <axis xyz="1 0 0"/>
    <dynamics damping="0.5" friction="1.0"/>
    <limit effort="3" lower="-1.57" upper="1.57" velocity="1.0"/>
  </joint>
  <joint name="finger1_tip_phalanx_joint_right" type="fixed">
    <parent link="finger1_tip_right"/>
    <child link="finger1_tip_phalanx_right"/>
    <origin rpy="0 1.57 0" xyz="0 0 -0.06"/>
  </joint>
  <joint name="finger2_joint_right" type="revolute">
    <parent link="hand_right"/>
    <child link="finger2_right"/>
    <origin rpy="0 -1.57 0" xyz="0.075 -0.02 0"/>
    <axis xyz="-1 0 0"/>
    <dynamics damping="0.5" friction="1.0"/>
    <limit effort="3" lower="-1.57" upper="1.57" velocity="1.0"/>
  </joint>
  <joint name="finger2_phalanx_joint_right" type="fixed">
    <parent link="finger2_right"/>
    <child link="finger2_phalanx_right"/>
    <origin rpy="0 1.57 0" xyz="0 0 -0.06"/>
  </joint>
  <joint name="finger2_tip_joint_right" type="revolute">
    <parent link="finger2_right"/>
    <child link="finger2_tip_right"/>
    <origin rpy="0 0 0" xyz="0 0 -0.06"/>
    <axis xyz="-1 0 0"/>
    <dynamics damping="0.5" friction="1.0"/>
    <limit effort="3" lower="-1.57" upper="1.57" velocity="1.0"/>
  </joint>
  <joint name="finger2_tip_phalanx_joint_right" type="fixed">
    <parent link="finger2_tip_right"/>
    <child link="finger2_tip_phalanx_right"/>
    <origin rpy="0 1.57 0" xyz="0 0 -0.06"/>
  </joint>
  <joint name="grippoint_joint_right" type="fixed">
    <parent link="hand_right"/>
    <child link="grippoint_right"/>
    <origin rpy="0 0 0" xyz="0.14 0.0 0.0"/>
  </joint>
  <link name="shoulder_mount_left">
    <inertial>
      <origin rpy="1.57 0 0" xyz="0.0 0.155 0.0"/>
      <mass value="0.15"/>
      <inertia ixx="0.01" ixy="0" ixz="0" iyy="0.01" iyz="0" izz="0.01"/>
    </inertial>
    <visual>
      <origin rpy="1.57 0 0 " xyz="0.0 0.155 0.0"/>
      <geometry>
        <cylinder length="0.190" radius="0.075"/>
      </geometry>
      <material name="White">
     </material>
    </visual>
    <collision>
      <origin rpy="1.57 0 0 " xyz="0.0 0.155 0.0"/>
      <geometry>
        <cylinder length="0.190" radius="0.075"/>
      </geometry>
    </collision>
  </link>
  <gazebo reference="shoulder_mount_left">
    <material>Gazebo/White</material>
    <turnGravityOff>false</turnGravityOff>
  </gazebo>
  <link name="shoulder_link1_left">
    <inertial>
      <origin rpy="0 0 0" xyz="0.0 0.0 0.0"/>
      <mass value="0.25"/>
      <inertia ixx="6.0" ixy="0" ixz="0" iyy="0.01" iyz="0" izz="0.01"/>
    </inertial>
    <visual>
      <origin rpy="0 0 0 " xyz="0.0 0.0 -0.0525"/>
      <geometry>
        <cylinder length="0.015" radius="0.045"/>
      </geometry>
      <material name="Black">
     </material>
    </visual>
    <collision>
      <origin rpy="0 0 0 " xyz="0.0 0.0 -0.0525"/>
      <geometry>
        <cylinder length="0.015" radius="0.045"/>
      </geometry>
    </collision>
  </link>
  <gazebo reference="shoulder_link1_left">
    <material>Gazebo/Black</material>
    <turnGravityOff>false</turnGravityOff>
  </gazebo>
  <link name="shoulder_link2_left">
    <inertial>
      <origin rpy="0 0 0" xyz="0.0 0.0 0.0"/>
      <mass value="0.15"/>
      <inertia ixx="0.01" ixy="0" ixz="0" iyy="4.04" iyz="0" izz="0.001"/>
    </inertial>
    <visual>
      <origin rpy="0 0 0" xyz="0.0 0.06 -0.05"/>
      <geometry>
        <box size="0.035 0.01 0.1"/>
      </geometry>
      <material name="Black">
     </material>
    </visual>
    <collision>
      <origin rpy="0 0 0" xyz="0.0 0.06 -0.05"/>
      <geometry>
        <box size="0.035 0.01 0.1"/>
      </geometry>
    </collision>
  </link>
  <gazebo reference="shoulder_link2_left">
    <material>Gazebo/Black</material>
    <turnGravityOff>false</turnGravityOff>
  </gazebo>
  <link name="upper_arm_left">
    <inertial>
      <origin rpy="0 0 0" xyz="0.0 -0.2 0.0"/>
      <mass value="2.95"/>
      <inertia ixx="0.027" ixy="0" ixz="0" iyy="0.45993" iyz="0" izz="0.004"/>
    </inertial>
    <visual>
      <origin rpy="0 0 3.1415" xyz="-0.00959 -0.19131 -0.00001"/>
      <geometry>
        <mesh filename="package://sergio_description/media/meshes/upperarmtextured.dae" scale="0.0004 0.0004 0.0004"/>
      </geometry>
      <material name="sergio_description/white"/>
    </visual>
    <collision>
      <origin rpy="0 0 3.1415" xyz="-0.00959 -0.19131 -0.00001"/>
      <geometry>
        <mesh filename="package://sergio_description/media/meshes/upperarmtextured.dae" scale="0.0004 0.0004 0.0004"/>
      </geometry>
    </collision>
  </link>
  <gazebo reference="upper_arm_left">
    <material>sergio_description/white</material>
    <turnGravityOff>false</turnGravityOff>
  </gazebo>
  <link name="elbow_link4_left">
    <inertial>
      <origin rpy="0 0 0" xyz="0.0 0.0 0.0"/>
      <mass value="0.1"/>
      <inertia ixx="0.001" ixy="0" ixz="0" iyy="0.6" iyz="0" izz="0.001"/>
    </inertial>
    <visual>
      <origin rpy="0 0 0" xyz="0.0 0.0 0.0"/>
      <geometry>
        <cylinder length="0.0" radius="0.0"/>
      </geometry>
      <material name="Grey">
     </material>
    </visual>
    <collision>
      <origin rpy="0 0 0" xyz="0.0 0.0 0.0"/>
      <geometry>
        <cylinder length="0.0" radius="0.0"/>
      </geometry>
    </collision>
  </link>
  <gazebo reference="elbow_link4_left">
    <material>Gazebo/Grey</material>
    <turnGravityOff>false</turnGravityOff>
  </gazebo>
  <link name="fore_arm_left">
    <inertial>
      <origin rpy="0.0 0 0" xyz="0.0 -0.14 0.0"/>
      <mass value="0.85"/>
      <inertia ixx="0.001" ixy="0" ixz="0" iyy="0.5" iyz="0" izz="0.001"/>
    </inertial>
    <visual>
      <origin rpy="0 -1.5708 0" xyz="0.00425 -0.14868 0.00547"/>
      <geometry>
        <mesh filename="package://sergio_description/media/meshes/forearmtextured.dae" scale="0.0004 0.0004 0.0004"/>
      </geometry>
      <material name="sergio_description/white"/>
    </visual>
    <collision>
      <origin rpy="0 -1.5708 0" xyz="0.00425 -0.14868 0.00547"/>
      <geometry>
        <mesh filename="package://sergio_description/media/meshes/forearmtextured.dae" scale="0.0004 0.0004 0.0004"/>
      </geometry>
    </collision>
  </link>
  <gazebo reference="fore_arm_left">
    <material>sergio_description/white</material>
    <turnGravityOff>false</turnGravityOff>
  </gazebo>
  <link name="wrist_link6_left">
    <inertial>
      <origin rpy="0 0 0" xyz="0.0 0.0 0.0"/>
      <mass value="0.01"/>
      <inertia ixx="0.001" ixy="0" ixz="0" iyy="0.03322" iyz="0" izz="0.001"/>
    </inertial>
    <visual>
      <origin rpy="1.5708 0 0" xyz="0.0 0.0 0.0"/>
      <geometry>
        <cylinder length="0.0" radius="0.0"/>
      </geometry>
      <material name="Black">
     </material>
    </visual>
    <collision>
      <origin rpy="1.5708 0 0" xyz="0.0 0.0 0.0"/>
      <geometry>
        <cylinder length="0.0" radius="0.0"/>
      </geometry>
    </collision>
  </link>
  <gazebo reference="wrist_link6_left">
    <material>Gazebo/Black</material>
    <turnGravityOff>false</turnGravityOff>
  </gazebo>
  <link name="hand_left">
    <inertial>
      <origin rpy="0 0 0" xyz="0.048 0.0 0.0"/>
      <mass value="0.2"/>
      <inertia ixx="0.01" ixy="0" ixz="0" iyy="0.01" iyz="0" izz="0.0622"/>
    </inertial>
    <visual>
      <origin rpy="0 0 0" xyz="0.048 0.0 0.0"/>
      <geometry>
        <box size="0.080 0.085 0.038"/>
      </geometry>
      <material name="Grey">
     </material>
    </visual>
    <collision>
      <origin rpy="0 0 0" xyz="0.048 0.0 0.0"/>
      <geometry>
        <box size="0.080 0.085 0.038"/>
      </geometry>
    </collision>
  </link>
  <gazebo reference="hand_left">
    <material>Gazebo/Grey</material>
    <turnGravityOff>false</turnGravityOff>
  </gazebo>
  <link name="finger1_left">
    <inertial>
      <origin rpy="0 0 0" xyz="0.0 0.0 -0.03"/>
      <mass value="0.01"/>
      <inertia ixx="0.01" ixy="0" ixz="0" iyy="0.01" iyz="0" izz="0.01"/>
    </inertial>
    <visual>
      <origin rpy="0 0 0" xyz="0.0 0.0 -0.03"/>
      <geometry>
        <box size="0.018 0.018 0.06"/>
      </geometry>
      <material name="Black">
     </material>
    </visual>
    <collision>
      <origin rpy="0 0 0" xyz="0.0 0.0 -0.03"/>
      <geometry>
        <box size="0.018 0.018 0.06"/>
      </geometry>
    </collision>
  </link>
  <gazebo reference="finger1_left">
    <material>Gazebo/Black</material>
    <turnGravityOff>false</turnGravityOff>
  </gazebo>
  <gazebo reference="finger1_left">
    <mu1 value="100.0"/>
    <mu2 value="100.0"/>
  </gazebo>
  <link name="finger1_phalanx_left">
    <inertial>
      <origin rpy="0 0 0" xyz="0.0 0.0 0"/>
      <mass value="0.01"/>
      <inertia ixx="0.001" ixy="0" ixz="0" iyy="0.001" iyz="0" izz="0.001"/>
    </inertial>
    <visual>
      <origin rpy="0 0 0" xyz="0.0 0.0 0"/>
      <geometry>
        <cylinder length="0.019" radius="0.009"/>
      </geometry>
      <material name="White">
     </material>
    </visual>
    <collision>
      <origin rpy="0 0 0" xyz="0.0 0.0 0"/>
      <geometry>
        <cylinder length="0.019" radius="0.009"/>
      </geometry>
    </collision>
  </link>
  <gazebo reference="finger1_phalanx_left">
    <material>Gazebo/White</material>
    <turnGravityOff>false</turnGravityOff>
  </gazebo>
  <link name="finger1_tip_left">
    <inertial>
      <origin rpy="0 0 0" xyz="0.0 0.0 -0.03"/>
      <mass value="0.01"/>
      <inertia ixx="0.00037" ixy="0" ixz="0" iyy="0.00052" iyz="0" izz="0.00052"/>
    </inertial>
    <visual>
      <origin rpy="0 0 0" xyz="0.0 0.0 -0.03"/>
      <geometry>
        <box size="0.018 0.018 0.06"/>
      </geometry>
      <material name="Black">
     </material>
    </visual>
    <collision>
      <origin rpy="0 0 0" xyz="0.0 0.0 -0.03"/>
      <geometry>
        <box size="0.018 0.018 0.06"/>
      </geometry>
    </collision>
  </link>
  <gazebo reference="finger1_tip_left">
    <material>Gazebo/Black</material>
    <turnGravityOff>false</turnGravityOff>
  </gazebo>
  <gazebo reference="finger1_tip_left">
    <mu1 value="100.0"/>
    <mu2 value="100.0"/>
  </gazebo>
  <link name="finger1_tip_phalanx_left">
    <inertial>
      <origin rpy="0 0 0" xyz="0.0 0.0 0"/>
      <mass value="0.01"/>
      <inertia ixx="0.001" ixy="0" ixz="0" iyy="0.001" iyz="0" izz="0.001"/>
    </inertial>
    <visual>
      <origin rpy="0 0 0" xyz="0.0 0.0 0"/>
      <geometry>
        <cylinder length="0.017" radius="0.009"/>
      </geometry>
      <material name="White">
     </material>
    </visual>
    <collision>
      <origin rpy="0 0 0" xyz="0.0 0.0 0"/>
      <geometry>
        <cylinder length="0.017" radius="0.009"/>
      </geometry>
    </collision>
  </link>
  <gazebo reference="finger1_tip_phalanx_left">
    <material>Gazebo/White</material>
    <turnGravityOff>false</turnGravityOff>
  </gazebo>
  <link name="finger2_left">
    <inertial>
      <origin rpy="0 0 0" xyz="0.0 0.0 -0.03"/>
      <mass value="0.01"/>
      <inertia ixx="0.01" ixy="0" ixz="0" iyy="0.01" iyz="0" izz="0.01"/>
    </inertial>
    <visual>
      <origin rpy="0 0 0" xyz="0.0 0.0 -0.03"/>
      <geometry>
        <box size="0.018 0.018 0.06"/>
      </geometry>
      <material name="Black">
     </material>
    </visual>
    <collision>
      <origin rpy="0 0 0" xyz="0.0 0.0 -0.03"/>
      <geometry>
        <box size="0.018 0.018 0.06"/>
      </geometry>
    </collision>
  </link>
  <gazebo reference="finger2_left">
    <material>Gazebo/Black</material>
    <turnGravityOff>false</turnGravityOff>
  </gazebo>
  <gazebo reference="finger2_left">
    <mu1 value="100.0"/>
    <mu2 value="100.0"/>
  </gazebo>
  <link name="finger2_phalanx_left">
    <inertial>
      <origin rpy="0 0 0" xyz="0.0 0.0 0"/>
      <mass value="0.01"/>
      <inertia ixx="0.001" ixy="0" ixz="0" iyy="0.001" iyz="0" izz="0.001"/>
    </inertial>
    <visual>
      <origin rpy="0 0 0" xyz="0.0 0.0 0"/>
      <geometry>
        <cylinder length="0.019" radius="0.009"/>
      </geometry>
      <material name="White">
     </material>
    </visual>
    <collision>
      <origin rpy="0 0 0" xyz="0.0 0.0 0"/>
      <geometry>
        <cylinder length="0.019" radius="0.009"/>
      </geometry>
    </collision>
  </link>
  <gazebo reference="finger2_phalanx_left">
    <material>Gazebo/White</material>
    <turnGravityOff>false</turnGravityOff>
  </gazebo>
  <link name="finger2_tip_left">
    <inertial>
      <origin rpy="0 0 0" xyz="0.0 0.0 -0.03"/>
      <mass value="0.01"/>
      <inertia ixx="0.00037" ixy="0" ixz="0" iyy="0.00052" iyz="0" izz="0.00052"/>
    </inertial>
    <visual>
      <origin rpy="0 0 0" xyz="0.0 0.0 -0.03"/>
      <geometry>
        <box size="0.018 0.018 0.06"/>
      </geometry>
      <material name="Black">
     </material>
    </visual>
    <collision>
      <origin rpy="0 0 0" xyz="0.0 0.0 -0.03"/>
      <geometry>
        <box size="0.018 0.018 0.06"/>
      </geometry>
    </collision>
  </link>
  <gazebo reference="finger2_tip_left">
    <material>Gazebo/Black</material>
    <turnGravityOff>false</turnGravityOff>
  </gazebo>
  <gazebo reference="finger2_tip_left">
    <mu1 value="100.0"/>
    <mu2 value="100.0"/>
  </gazebo>
  <link name="finger2_tip_phalanx_left">
    <inertial>
      <origin rpy="0 0 0" xyz="0.0 0.0 0"/>
      <mass value="0.01"/>
      <inertia ixx="0.001" ixy="0" ixz="0" iyy="0.001" iyz="0" izz="0.001"/>
    </inertial>
    <visual>
      <origin rpy="0 0 0" xyz="0.0 0.0 0"/>
      <geometry>
        <cylinder length="0.017" radius="0.009"/>
      </geometry>
      <material name="White">
     </material>
    </visual>
    <collision>
      <origin rpy="0 0 0" xyz="0.0 0.0 0"/>
      <geometry>
        <cylinder length="0.017" radius="0.009"/>
      </geometry>
    </collision>
  </link>
  <gazebo reference="finger2_tip_phalanx_left">
    <material>Gazebo/White</material>
    <turnGravityOff>false</turnGravityOff>
  </gazebo>
  <link name="grippoint_left">
    <inertial>
      <origin rpy="0 0 0" xyz="-0.1 0.0 0.0"/>
      <mass value="0.01"/>
      <inertia ixx="0.0001" ixy="0" ixz="0" iyy="0.0001" iyz="0" izz="0.0001"/>
    </inertial>
    <visual>
      <origin rpy="0 0 0 " xyz="-0.1 0.0 0.0"/>
      <geometry>
        <box size="0.0 0.0 0.0"/>
      </geometry>
      <material name="Blue">
     </material>
    </visual>
    <collision>
      <origin rpy="0 0 0 " xyz="-0.1 0.0 0.0"/>
      <geometry>
        <box size="0.0 0.0 0.0"/>
      </geometry>
    </collision>
  </link>
  <gazebo reference="grippoint_left">
    <material>Gazebo/Blue</material>
    <turnGravityOff>false</turnGravityOff>
  </gazebo>
  <joint name="shoulder_mount_joint_left" type="fixed">
    <parent link="trunk"/>
    <child link="shoulder_mount_left"/>
    <origin rpy="3.14 0 0.0" xyz="0.470 0.22 0.0"/>
    <!-- Check length -->
  </joint>
  <joint name="shoulder_yaw_joint_left" type="revolute">
    <parent link="shoulder_mount_left"/>
    <child link="shoulder_link1_left"/>
    <origin rpy="-1.5708 -1.5708 0" xyz="0 0 0"/>
    <axis xyz="-1 0 0"/>
    <dynamics damping="4.0" friction="4.87"/>
    <limit effort="13.4" lower="-1.57" upper="0.0" velocity="1.0"/>
  </joint>
  <joint name="shoulder_pitch_joint_left" type="revolute">
    <parent link="shoulder_link1_left"/>
    <child link="shoulder_link2_left"/>
    <origin rpy="-1.5708  0 0" xyz="0.0 0.0 0.0"/>
    <axis xyz="0 -1 0"/>
    <dynamics damping="4.0" friction="6.06"/>
    <limit effort="13.4" lower="-1.57" upper="1.57" velocity="1.0"/>
  </joint>
  <joint name="shoulder_roll_joint_left" type="revolute">
    <parent link="shoulder_link2_left"/>
    <child link="upper_arm_left"/>
    <origin rpy="1.5708 0 0.0" xyz="0.0 0.0 0.0"/>
    <axis xyz="0 -1.0 0"/>
    <dynamics damping="3.8" friction="2.216"/>
    <limit effort="9.8" lower="-1.57" upper="1.57" velocity="1.0"/>
  </joint>
  <joint name="elbow_pitch_joint_left" type="revolute">
    <parent link="upper_arm_left"/>
    <child link="elbow_link4_left"/>
    <origin rpy="-1.5708 0 0" xyz="0.01 -0.32 0.0"/>
    <axis xyz="0 -1 0"/>
    <dynamics damping="3" friction="1.18"/>
    <limit effort="4.5" lower="0.0" upper="2.23" velocity="1.0"/>
  </joint>
  <joint name="elbow_roll_joint_left" type="revolute">
    <parent link="elbow_link4_left"/>
    <child link="fore_arm_left"/>
    <origin rpy="1.5708 0 0" xyz="0.0 0.0 0.0"/>
    <axis xyz="0 -1.0 0"/>
    <dynamics damping="3.5" friction="1.35"/>
    <limit effort="4.5" lower="-1.83" upper="1.83" velocity="1.0"/>
  </joint>
  <joint name="wrist_pitch_joint_left" type="revolute">
    <parent link="fore_arm_left"/>
    <child link="wrist_link6_left"/>
    <origin rpy="-1.5708 0 -1.5708" xyz="0.01 -0.28 0.0"/>
    <axis xyz="0 -1 0"/>
    <dynamics damping="0.35" friction="0.63"/>
    <limit effort="1" lower="-0.95" upper="0.95" velocity="1.0"/>
  </joint>
  <joint name="wrist_yaw_joint_left" type="revolute">
    <parent link="wrist_link6_left"/>
    <child link="hand_left"/>
    <origin rpy="0 0 0" xyz="0.0 0.0 0.0"/>
    <axis xyz="0 0 -1.01"/>
    <dynamics damping="0.3" friction="0.68"/>
    <limit effort="1" lower="-0.61" upper="0.61" velocity="1.0"/>
  </joint>
  <joint name="finger1_joint_left" type="revolute">
    <parent link="hand_left"/>
    <child link="finger1_left"/>
    <origin rpy="0 -1.57 0" xyz=" 0.075 0.02 0"/>
    <axis xyz="1 0 0"/>
    <dynamics damping="0.5" friction="1.0"/>
    <limit effort="3" lower="-1.57" upper="1.57" velocity="1.0"/>
  </joint>
  <joint name="finger1_phalanx_joint_left" type="fixed">
    <parent link="finger1_left"/>
    <child link="finger1_phalanx_left"/>
    <origin rpy="0 1.57 0" xyz="0 0 -0.06"/>
  </joint>
  <joint name="finger1_tip_joint_left" type="revolute">
    <parent link="finger1_left"/>
    <child link="finger1_tip_left"/>
    <origin rpy="0 0 0" xyz=" 0 0.0 -0.06"/>
    <axis xyz="1 0 0"/>
    <dynamics damping="0.5" friction="1.0"/>
    <limit effort="3" lower="-1.57" upper="1.57" velocity="1.0"/>
  </joint>
  <joint name="finger1_tip_phalanx_joint_left" type="fixed">
    <parent link="finger1_tip_left"/>
    <child link="finger1_tip_phalanx_left"/>
    <origin rpy="0 1.57 0" xyz="0 0 -0.06"/>
  </joint>
  <joint name="finger2_joint_left" type="revolute">
    <parent link="hand_left"/>
    <child link="finger2_left"/>
    <origin rpy="0 -1.57 0" xyz="0.075 -0.02 0"/>
    <axis xyz="-1 0 0"/>
    <dynamics damping="0.5" friction="1.0"/>
    <limit effort="3" lower="-1.57" upper="1.57" velocity="1.0"/>
  </joint>
  <joint name="finger2_phalanx_joint_left" type="fixed">
    <parent link="finger2_left"/>
    <child link="finger2_phalanx_left"/>
    <origin rpy="0 1.57 0" xyz="0 0 -0.06"/>
  </joint>
  <joint name="finger2_tip_joint_left" type="revolute">
    <parent link="finger2_left"/>
    <child link="finger2_tip_left"/>
    <origin rpy="0 0 0" xyz="0 0 -0.06"/>
    <axis xyz="-1 0 0"/>
    <dynamics damping="0.5" friction="1.0"/>
    <limit effort="3" lower="-1.57" upper="1.57" velocity="1.0"/>
  </joint>
  <joint name="finger2_tip_phalanx_joint_left" type="fixed">
    <parent link="finger2_tip_left"/>
    <child link="finger2_tip_phalanx_left"/>
    <origin rpy="0 1.57 0" xyz="0 0 -0.06"/>
  </joint>
  <joint name="grippoint_joint_left" type="fixed">
    <parent link="hand_left"/>
    <child link="grippoint_left"/>
    <origin rpy="0 0 0" xyz="0.14 0.0 0.0"/>
  </joint>
  <!--extra arm visuals-->
  <author>Kris van Tienhoven</author>
  <license>BSD</license>
  <review notes="" status="unreviewed"/>
  <link name="pitch_axis_right">
    <inertial>
      <origin rpy="1.57 0 0" xyz="0.0 -0.055 0.0"/>
      <mass value="0.15"/>
      <inertia ixx="0.01" ixy="0" ixz="0" iyy="0.01" iyz="0" izz="0.01"/>
    </inertial>
    <visual>
      <origin rpy="1.57 0 0 " xyz="0.0 -0.055 0.0"/>
      <geometry>
        <cylinder length="0.220" radius="0.035"/>
      </geometry>
      <material name="White">
     </material>
    </visual>
    <collision>
      <origin rpy="1.57 0 0 " xyz="0.0 -0.055 0.0"/>
      <geometry>
        <cylinder length="0.220" radius="0.035"/>
      </geometry>
    </collision>
  </link>
  <gazebo reference="pitch_axis_right">
    <material>Gazebo/White</material>
    <turnGravityOff>false</turnGravityOff>
  </gazebo>
  <link name="upper_arm_top_right">
    <inertial>
      <origin rpy="0 0 0" xyz="0.0 0.0 0.0"/>
      <mass value="0.01"/>
      <inertia ixx="0.027" ixy="0" ixz="0" iyy="0.027" iyz="0" izz="0.004"/>
    </inertial>
    <visual>
      <origin rpy="0 0 0" xyz="0.0 0.0 0.0"/>
      <geometry>
        <cylinder length="0.02" radius="0.0561"/>
      </geometry>
      <material name="Black">
     </material>
    </visual>
    <collision>
      <origin rpy="0 0 0" xyz="0.0 0.0 0.0"/>
      <geometry>
        <cylinder length="0.02" radius="0.0561"/>
      </geometry>
    </collision>
  </link>
  <gazebo reference="upper_arm_top_right">
    <material>Gazebo/Black</material>
    <turnGravityOff>false</turnGravityOff>
  </gazebo>
  <link name="elbow_extra_block_right">
    <inertial>
      <origin rpy="0 0 0" xyz="0.0 0.0 0.0"/>
      <mass value="0.01"/>
      <inertia ixx="0.001" ixy="0" ixz="0" iyy="0.001" iyz="0" izz="0.001"/>
    </inertial>
    <visual>
      <origin rpy="0 0 0" xyz="-0.036 0.0 0.02"/>
      <geometry>
        <box size="0.015 0.08 0.06"/>
      </geometry>
      <material name="Black">
     </material>
    </visual>
    <collision>
      <origin rpy="0 0 0" xyz="-0.036 0.0 0.02"/>
      <geometry>
        <box size="0.015 0.08 0.06"/>
      </geometry>
    </collision>
  </link>
  <gazebo reference="elbow_extra_block_right">
    <material>Gazebo/Black</material>
    <turnGravityOff>false</turnGravityOff>
  </gazebo>
  <link name="elbow_extra_block2_right">
    <inertial>
      <origin rpy="0 0 0" xyz="0.0 0.0 0.0"/>
      <mass value="0.01"/>
      <inertia ixx="0.001" ixy="0" ixz="0" iyy="0.001" iyz="0" izz="0.001"/>
    </inertial>
    <visual>
      <origin rpy="1.5708 0 0" xyz="0.0 0.0 0.0"/>
      <geometry>
        <cylinder length="0.08" radius="0.03"/>
      </geometry>
      <material name="Grey">
     </material>
    </visual>
    <collision>
      <origin rpy="1.5708 0 0" xyz="0.0 0.0 0.0"/>
      <geometry>
        <cylinder length="0.08" radius="0.03"/>
      </geometry>
    </collision>
  </link>
  <gazebo reference="elbow_extra_block2_right">
    <material>Gazebo/Grey</material>
    <turnGravityOff>false</turnGravityOff>
  </gazebo>
  <link name="fore_arm_top_right">
    <inertial>
      <origin rpy="0 0 0" xyz="0.0 0.0 0.0"/>
      <mass value="0.01"/>
      <inertia ixx="0.0054" ixy="0" ixz="0" iyy="0.0054" iyz="0" izz="0.0004"/>
    </inertial>
    <visual>
      <origin rpy="0 0 0" xyz="0.0 0.0 0.01"/>
      <geometry>
        <cylinder length="0.01" radius="0.037"/>
      </geometry>
      <material name="Black">
     </material>
    </visual>
    <collision>
      <origin rpy="0 0 0" xyz="0.0 0.0 0.01"/>
      <geometry>
        <cylinder length="0.01" radius="0.037"/>
      </geometry>
    </collision>
  </link>
  <gazebo reference="fore_arm_top_right">
    <material>Gazebo/Black</material>
    <turnGravityOff>false</turnGravityOff>
  </gazebo>
  <link name="wrist_visual_right">
    <inertial>
      <origin rpy="0 0 0" xyz="0.0 0.0 0.0"/>
      <mass value="0.01"/>
      <inertia ixx="0.001" ixy="0" ixz="0" iyy="0.001" iyz="0" izz="0.001"/>
    </inertial>
    <visual>
      <origin rpy="0 0 0" xyz="0.0 0.0 0.0"/>
      <geometry>
        <cylinder length="0.06" radius="0.018"/>
      </geometry>
      <material name="Grey">
     </material>
    </visual>
    <collision>
      <origin rpy="0 0 0" xyz="0.0 0.0 0.0"/>
      <geometry>
        <cylinder length="0.06" radius="0.018"/>
      </geometry>
    </collision>
  </link>
  <gazebo reference="wrist_visual_right">
    <material>Gazebo/Grey</material>
    <turnGravityOff>false</turnGravityOff>
  </gazebo>
  <link name="wrist_to_hand_block_right">
    <inertial>
      <origin rpy="0 0 0" xyz="0.0 0.0 0.0"/>
      <mass value="0.01"/>
      <inertia ixx="0.001" ixy="0" ixz="0" iyy="0.001" iyz="0" izz="0.001"/>
    </inertial>
    <visual>
      <origin rpy="0 0 0" xyz="0.0 0.0 0.0"/>
      <geometry>
        <box size="0.03 0.02 0.038"/>
      </geometry>
      <material name="Grey">
     </material>
    </visual>
    <collision>
      <origin rpy="0 0 0" xyz="0.0 0.0 0.0"/>
      <geometry>
        <box size="0.03 0.02 0.038"/>
      </geometry>
    </collision>
  </link>
  <gazebo reference="wrist_to_hand_block_right">
    <material>Gazebo/Grey</material>
    <turnGravityOff>false</turnGravityOff>
  </gazebo>
  <joint name="pitch_axis_joint_right" type="fixed">
    <parent link="trunk"/>
    <child link="pitch_axis_right"/>
    <origin rpy="3.14 0 0.0" xyz="0.470 -0.22 0.0"/>
    <!-- Check length -->
  </joint>
  <joint name="upper_arm_top_joint_right" type="fixed">
    <parent link="upper_arm_right"/>
    <child link="upper_arm_top_right"/>
    <origin rpy="1.5708 0 0.0" xyz="-0.01 -0.1 0.0"/>
  </joint>
  <joint name="elbow_extra_block_joint_right" type="fixed">
    <parent link="upper_arm_right"/>
    <child link="elbow_extra_block_right"/>
    <origin rpy="-1.5708 0 0" xyz="0.0 -0.31 0.0"/>
  </joint>
  <joint name="elbow_extra_block2_joint_right" type="fixed">
    <parent link="upper_arm_right"/>
    <child link="elbow_extra_block2_right"/>
    <origin rpy="-1.5708 0 0" xyz="0.0 -0.31 0.0"/>
  </joint>
  <joint name="fore_arm_top_joint_right" type="fixed">
    <parent link="fore_arm_right"/>
    <child link="fore_arm_top_right"/>
    <origin rpy="1.5708 0 0" xyz="0.002 -0.011 0.0"/>
  </joint>
  <joint name="wrist_visual_joint_right" type="fixed">
    <parent link="wrist_link6_right"/>
    <child link="wrist_visual_right"/>
    <origin rpy="1.5708 0 0" xyz="-0.02 0.0 0.0"/>
  </joint>
  <joint name="wrist_to_hand_block_joint_right" type="fixed">
    <parent link="wrist_link6_right"/>
    <child link="wrist_to_hand_block_right"/>
    <origin rpy="0 0 0" xyz="0.0 0.0 0.0"/>
  </joint>
  <link name="pitch_axis_left">
    <inertial>
      <origin rpy="1.57 0 0" xyz="0.0 0.055 0.0"/>
      <mass value="0.15"/>
      <inertia ixx="0.01" ixy="0" ixz="0" iyy="0.01" iyz="0" izz="0.01"/>
    </inertial>
    <visual>
      <origin rpy="1.57 0 0 " xyz="0.0 0.055 0.0"/>
      <geometry>
        <cylinder length="0.220" radius="0.035"/>
      </geometry>
      <material name="White">
     </material>
    </visual>
    <collision>
      <origin rpy="1.57 0 0 " xyz="0.0 0.055 0.0"/>
      <geometry>
        <cylinder length="0.220" radius="0.035"/>
      </geometry>
    </collision>
  </link>
  <gazebo reference="pitch_axis_left">
    <material>Gazebo/White</material>
    <turnGravityOff>false</turnGravityOff>
  </gazebo>
  <link name="upper_arm_top_left">
    <inertial>
      <origin rpy="0 0 0" xyz="0.0 0.0 0.0"/>
      <mass value="0.01"/>
      <inertia ixx="0.027" ixy="0" ixz="0" iyy="0.027" iyz="0" izz="0.004"/>
    </inertial>
    <visual>
      <origin rpy="0 0 0" xyz="0.0 0.0 0.0"/>
      <geometry>
        <cylinder length="0.02" radius="0.0561"/>
      </geometry>
      <material name="Black">
     </material>
    </visual>
    <collision>
      <origin rpy="0 0 0" xyz="0.0 0.0 0.0"/>
      <geometry>
        <cylinder length="0.02" radius="0.0561"/>
      </geometry>
    </collision>
  </link>
  <gazebo reference="upper_arm_top_left">
    <material>Gazebo/Black</material>
    <turnGravityOff>false</turnGravityOff>
  </gazebo>
  <link name="elbow_extra_block_left">
    <inertial>
      <origin rpy="0 0 0" xyz="0.0 0.0 0.0"/>
      <mass value="0.01"/>
      <inertia ixx="0.001" ixy="0" ixz="0" iyy="0.001" iyz="0" izz="0.001"/>
    </inertial>
    <visual>
      <origin rpy="0 0 0" xyz="-0.036 0.0 0.02"/>
      <geometry>
        <box size="0.015 0.08 0.06"/>
      </geometry>
      <material name="Black">
     </material>
    </visual>
    <collision>
      <origin rpy="0 0 0" xyz="-0.036 0.0 0.02"/>
      <geometry>
        <box size="0.015 0.08 0.06"/>
      </geometry>
    </collision>
  </link>
  <gazebo reference="elbow_extra_block_left">
    <material>Gazebo/Black</material>
    <turnGravityOff>false</turnGravityOff>
  </gazebo>
  <link name="elbow_extra_block2_left">
    <inertial>
      <origin rpy="0 0 0" xyz="0.0 0.0 0.0"/>
      <mass value="0.01"/>
      <inertia ixx="0.001" ixy="0" ixz="0" iyy="0.001" iyz="0" izz="0.001"/>
    </inertial>
    <visual>
      <origin rpy="1.5708 0 0" xyz="0.0 0.0 0.0"/>
      <geometry>
        <cylinder length="0.08" radius="0.03"/>
      </geometry>
      <material name="Grey">
     </material>
    </visual>
    <collision>
      <origin rpy="1.5708 0 0" xyz="0.0 0.0 0.0"/>
      <geometry>
        <cylinder length="0.08" radius="0.03"/>
      </geometry>
    </collision>
  </link>
  <gazebo reference="elbow_extra_block2_left">
    <material>Gazebo/Grey</material>
    <turnGravityOff>false</turnGravityOff>
  </gazebo>
  <link name="fore_arm_top_left">
    <inertial>
      <origin rpy="0 0 0" xyz="0.0 0.0 0.0"/>
      <mass value="0.01"/>
      <inertia ixx="0.0054" ixy="0" ixz="0" iyy="0.0054" iyz="0" izz="0.0004"/>
    </inertial>
    <visual>
      <origin rpy="0 0 0" xyz="0.0 0.0 0.01"/>
      <geometry>
        <cylinder length="0.01" radius="0.037"/>
      </geometry>
      <material name="Black">
     </material>
    </visual>
    <collision>
      <origin rpy="0 0 0" xyz="0.0 0.0 0.01"/>
      <geometry>
        <cylinder length="0.01" radius="0.037"/>
      </geometry>
    </collision>
  </link>
  <gazebo reference="fore_arm_top_left">
    <material>Gazebo/Black</material>
    <turnGravityOff>false</turnGravityOff>
  </gazebo>
  <link name="wrist_visual_left">
    <inertial>
      <origin rpy="0 0 0" xyz="0.0 0.0 0.0"/>
      <mass value="0.01"/>
      <inertia ixx="0.001" ixy="0" ixz="0" iyy="0.001" iyz="0" izz="0.001"/>
    </inertial>
    <visual>
      <origin rpy="0 0 0" xyz="0.0 0.0 0.0"/>
      <geometry>
        <cylinder length="0.06" radius="0.018"/>
      </geometry>
      <material name="Grey">
     </material>
    </visual>
    <collision>
      <origin rpy="0 0 0" xyz="0.0 0.0 0.0"/>
      <geometry>
        <cylinder length="0.06" radius="0.018"/>
      </geometry>
    </collision>
  </link>
  <gazebo reference="wrist_visual_left">
    <material>Gazebo/Grey</material>
    <turnGravityOff>false</turnGravityOff>
  </gazebo>
  <link name="wrist_to_hand_block_left">
    <inertial>
      <origin rpy="0 0 0" xyz="0.0 0.0 0.0"/>
      <mass value="0.01"/>
      <inertia ixx="0.001" ixy="0" ixz="0" iyy="0.001" iyz="0" izz="0.001"/>
    </inertial>
    <visual>
      <origin rpy="0 0 0" xyz="0.0 0.0 0.0"/>
      <geometry>
        <box size="0.03 0.02 0.038"/>
      </geometry>
      <material name="Grey">
     </material>
    </visual>
    <collision>
      <origin rpy="0 0 0" xyz="0.0 0.0 0.0"/>
      <geometry>
        <box size="0.03 0.02 0.038"/>
      </geometry>
    </collision>
  </link>
  <gazebo reference="wrist_to_hand_block_left">
    <material>Gazebo/Grey</material>
    <turnGravityOff>false</turnGravityOff>
  </gazebo>
  <joint name="pitch_axis_joint_left" type="fixed">
    <parent link="trunk"/>
    <child link="pitch_axis_left"/>
    <origin rpy="3.14 0 0.0" xyz="0.470 0.22 0.0"/>
    <!-- Check length -->
  </joint>
  <joint name="upper_arm_top_joint_left" type="fixed">
    <parent link="upper_arm_left"/>
    <child link="upper_arm_top_left"/>
    <origin rpy="1.5708 0 0.0" xyz="-0.01 -0.1 0.0"/>
  </joint>
  <joint name="elbow_extra_block_joint_left" type="fixed">
    <parent link="upper_arm_left"/>
    <child link="elbow_extra_block_left"/>
    <origin rpy="-1.5708 0 0" xyz="0.0 -0.31 0.0"/>
  </joint>
  <joint name="elbow_extra_block2_joint_left" type="fixed">
    <parent link="upper_arm_left"/>
    <child link="elbow_extra_block2_left"/>
    <origin rpy="-1.5708 0 0" xyz="0.0 -0.31 0.0"/>
  </joint>
  <joint name="fore_arm_top_joint_left" type="fixed">
    <parent link="fore_arm_left"/>
    <child link="fore_arm_top_left"/>
    <origin rpy="1.5708 0 0" xyz="0.002 -0.011 0.0"/>
  </joint>
  <joint name="wrist_visual_joint_left" type="fixed">
    <parent link="wrist_link6_left"/>
    <child link="wrist_visual_left"/>
    <origin rpy="1.5708 0 0" xyz="-0.02 0.0 0.0"/>
  </joint>
  <joint name="wrist_to_hand_block_joint_left" type="fixed">
    <parent link="wrist_link6_left"/>
    <child link="wrist_to_hand_block_left"/>
    <origin rpy="0 0 0" xyz="0.0 0.0 0.0"/>
  </joint>
  <!--========BUILD HEAD======-->
  <author>Kris van Tienhoven, Janno Lunenburg</author>
  <license>BSD</license>
  <review notes="" status="unreviewed"/>
  <link name="head_mount">
    <inertial>
      <origin rpy="0 0 0" xyz="-0.0505 0.0 0.0"/>
      <mass value="0.05"/>
      <inertia ixx="0.0001" ixy="0" ixz="0" iyy="0.0001" iyz="0" izz="0.0001"/>
    </inertial>
    <visual>
      <origin rpy="0 0 0" xyz="-0.0505 0.0 0.0"/>
      <geometry>
        <box size="0.061 0.08 0.08"/>
      </geometry>
      <material name="White">
     </material>
    </visual>
    <collision>
      <origin rpy="0 0 0" xyz="-0.0505 0.0 0.0"/>
      <geometry>
        <box size="0.061 0.08 0.08"/>
      </geometry>
    </collision>
  </link>
  <gazebo reference="head_mount">
    <material>Gazebo/White</material>
    <turnGravityOff>false</turnGravityOff>
  </gazebo>
  <joint name="head_mount_joint" type="fixed">
    <parent link="trunk"/>
    <child link="head_mount"/>
    <axis xyz="0 0 1"/>
    <origin rpy="3.14 0.065 0.0" xyz="0.6057 0.0 -0.01017"/>
    <!-- Check length -->
  </joint>
  <link name="neck_pan">
    <inertial>
      <origin rpy="0 0 0" xyz="0.0 0.0 -0.01"/>
      <mass value="0.05"/>
      <inertia ixx="0.0001" ixy="0" ixz="0" iyy="0.0001" iyz="0" izz="0.0001"/>
    </inertial>
    <visual>
      <origin rpy="0 0 0" xyz="0.0 0.0 -0.01"/>
      <geometry>
        <cylinder length="0.02" radius="0.015"/>
      </geometry>
      <material name="White">
     </material>
    </visual>
    <collision>
      <origin rpy="0 0 0" xyz="0.0 0.0 -0.01"/>
      <geometry>
        <cylinder length="0.02" radius="0.015"/>
      </geometry>
    </collision>
  </link>
  <gazebo reference="neck_pan">
    <material>Gazebo/White</material>
    <turnGravityOff>false</turnGravityOff>
  </gazebo>
  <link name="neck_tilt">
    <inertial>
      <origin rpy="0 0 0" xyz="0.0 -0.0 0.018"/>
      <mass value="0.05"/>
      <inertia ixx="0.001" ixy="0" ixz="0" iyy="0.001" iyz="0" izz="0.001"/>
    </inertial>
    <visual>
      <origin rpy="0 0 0" xyz="0.0 -0.0 0.018"/>
      <geometry>
        <box size="0.03 0.03 0.036"/>
      </geometry>
      <material name="White">
     </material>
    </visual>
    <collision>
      <origin rpy="0 0 0" xyz="0.0 -0.0 0.018"/>
      <geometry>
        <box size="0.03 0.03 0.036"/>
      </geometry>
    </collision>
  </link>
  <gazebo reference="neck_tilt">
    <material>Gazebo/White</material>
    <turnGravityOff>false</turnGravityOff>
  </gazebo>
  <link name="head">
    <inertial>
      <origin rpy="0 0 0" xyz="0.0 0.0 0.041"/>
      <mass value="0"/>
      <inertia ixx="0" ixy="0" ixz="0" iyy="0" iyz="0" izz="0"/>
    </inertial>
    <visual>
      <origin rpy="0 0 -1.5708" xyz="0.0 0.0 0.141"/>
      <geometry>
        <box size="0.001 0.001 0.001"/>
      </geometry>
      <material name="White">
     </material>
    </visual>
    <collision>
      <origin rpy="0 0 -1.5708" xyz="0.0 0.0 0.141"/>
      <geometry>
        <box size="0.001 0.001 0.001"/>
      </geometry>
    </collision>
  </link>
  <gazebo reference="head">
    <material>Gazebo/White</material>
    <turnGravityOff>false</turnGravityOff>
  </gazebo>
  <joint name="head_joint" type="fixed">
    <parent link="neck_tilt"/>
    <child link="head"/>
    <origin rpy="0.0 0.0 0.0" xyz="0.0 0.0 0.036"/>
  </joint>
  <joint name="neck_pan_joint" type="revolute">
    <parent link="head_mount"/>
    <child link="neck_pan"/>
    <origin rpy="3.14 -1.5708 0.0" xyz="0.0 0.0 0.0"/>
    <axis xyz="0 0 1"/>
    <dynamics damping="0.1" friction="0"/>
    <limit effort="13.4" lower="-1.5708" upper="1.5708" velocity="1.0"/>
  </joint>
  <joint name="neck_tilt_joint" type="revolute">
    <parent link="neck_pan"/>
    <child link="neck_tilt"/>
    <origin rpy="0.0 0.0 0.0" xyz="0.0 0.0 0.0"/>
    <axis xyz="0 1 0"/>
    <dynamics damping="0.1" friction="0.0"/>
    <limit effort="13.4" lower="-0.98" upper="0.98" velocity="1.0"/>
  </joint>
  <!--========BUILD KINECT======-->
  <joint name="top_kinect/base_kinect_joint" type="fixed">
    <origin rpy="0 0 0" xyz="0.03 0.0 0.017"/>
    <!-- THESE VALUES ARE ROUGH ESTIMATES!! -->
    <parent link="head"/>
    <child link="top_kinect/openni_camera"/>
  </joint>
  <link name="top_kinect/openni_camera">
    <inertial>
      <mass value="0.01"/>
      <origin xyz="0 0 0"/>
      <inertia ixx="0.001" ixy="0.0" ixz="0.0" iyy="0.001" iyz="0.0" izz="0.001"/>
    </inertial>
    <visual>
      <origin rpy="0 0 0" xyz=" 0 0 0 "/>
      <geometry>
        <!--<box size="0.001 0.001 0.001"/>-->
        <!--Changed to 0.001 because otherwise it doesn't work-->
        <!--mesh filename="package://sergio_description/kinect/meshes/kinect.dae" scale="0.001 0.001 0.001"/-->
        <mesh filename="package://sergio_description/media/meshes/kinect_without_base.dae"/>
      </geometry>
    </visual>
    <!--<collision>
      <origin xyz="-0.0365 0.0 0.0" rpy="0 0 0" />
      <geometry>
        <box size="0.0730 .2760 0.0720"/>
      </geometry>
    </collision>-->
  </link>
  <joint name="top_kinect/kinect_depth_joint" type="fixed">
    <origin rpy="0 0 0" xyz="0 0.018 0"/>
    <parent link="top_kinect/openni_camera"/>
    <child link="top_kinect/openni_depth_frame"/>
  </joint>
  <link name="top_kinect/openni_depth_frame">
    <inertial>
      <mass value="0.01"/>
      <origin xyz="0 0 0"/>
      <inertia ixx="0.001" ixy="0.0" ixz="0.0" iyy="0.001" iyz="0.0" izz="0.001"/>
    </inertial>
  </link>
  <joint name="top_kinect/kinect_depth_optical_joint" type="fixed">
    <origin rpy="-1.570795 0 -1.570795" xyz="0 0 0"/>
    <parent link="top_kinect/openni_depth_frame"/>
    <child link="top_kinect/openni_depth_optical_frame"/>
  </joint>
  <link name="top_kinect/openni_depth_optical_frame">
    <inertial>
      <mass value="0.001"/>
      <origin xyz="0 0 0"/>
      <inertia ixx="0.0001" ixy="0.0" ixz="0.0" iyy="0.0001" iyz="0.0" izz="0.0001"/>
    </inertial>
  </link>
  <joint name="top_kinect/kinect_rgb_joint" type="fixed">
    <origin rpy="0 0 0" xyz="0 -0.005 0"/>
    <parent link="top_kinect/openni_camera"/>
    <child link="top_kinect/openni_rgb_frame"/>
  </joint>
  <link name="top_kinect/openni_rgb_frame">
    <inertial>
      <mass value="0.001"/>
      <origin xyz="0 0 0"/>
      <inertia ixx="0.0001" ixy="0.0" ixz="0.0" iyy="0.0001" iyz="0.0" izz="0.0001"/>
    </inertial>
  </link>
  <joint name="top_kinect/kinect_rgb_optical_joint" type="fixed">
    <origin rpy="-1.570795 0 -1.570795" xyz="0 0 0"/>
    <parent link="top_kinect/openni_rgb_frame"/>
    <child link="top_kinect/openni_rgb_optical_frame"/>
  </joint>
  <link name="top_kinect/openni_rgb_optical_frame">
    <inertial>
      <mass value="0.001"/>
      <origin xyz="0 0 0"/>
      <inertia ixx="0.0001" ixy="0.0" ixz="0.0" iyy="0.0001" iyz="0.0" izz="0.0001"/>
    </inertial>
  </link>
  <!--========BUILD LASERS======-->
  <!--<xacro:include filename="$(find sergio_description)/urdf/xacro/laser/base_laser.urdf.xacro" />-->
  <author>Ton Peters</author>
  <license>BSD</license>
  <review notes="" status="unreviewed"/>
  <joint name="base_lasercenter_joint" type="fixed">
    <parent link="laser_mount"/>
    <child link="base_laser"/>
    <origin rpy="0.0 0.0 0.0" xyz="0.03 0.0 0.0455"/>
  </joint>
  <link name="base_laser">
    <inertial>
      <origin rpy="0 0 0" xyz="0.0 0.0 -0.026"/>
      <mass value="0.5"/>
      <inertia ixx="0.0001" ixy="0" ixz="0" iyy="0.0001" iyz="0" izz="0.0001"/>
    </inertial>
    <visual>
      <origin rpy="0 0 0" xyz="0.0 0.0 -0.026"/>
      <geometry>
        <box size="0.06 0.06 0.069"/>
      </geometry>
      <material name="Black">
     </material>
    </visual>
    <collision>
      <origin rpy="0 0 0" xyz="0.0 0.0 -0.026"/>
      <geometry>
        <box size="0.06 0.06 0.069"/>
      </geometry>
    </collision>
  </link>
  <gazebo reference="base_laser">
    <material>Gazebo/Black</material>
    <turnGravityOff>false</turnGravityOff>
  </gazebo>
  <joint name="base_lasertop_joint" type="fixed">
    <parent link="base_laser"/>
    <child link="base_lasertop"/>
    <!--<origin xyz="0.0 0.0 0.023" rpy="0 0 0"/>-->
    <origin rpy="0 0 0" xyz="0.0 0.0 0.0175"/>
  </joint>
  <link name="base_lasertop">
    <inertial>
      <origin rpy="0 0 0" xyz="0.0 0.0 0.0"/>
      <mass value="0.01"/>
      <inertia ixx="0.0001" ixy="0" ixz="0" iyy="0.0001" iyz="0" izz="0.0001"/>
    </inertial>
    <visual>
      <origin rpy="0 0 0" xyz="0.0 0.0 0.0"/>
      <geometry>
        <box size="0.06 0.06 0.018"/>
      </geometry>
      <material name="Orange">
     </material>
    </visual>
    <collision>
      <origin rpy="0 0 0" xyz="0.0 0.0 0.0"/>
      <geometry>
        <box size="0.06 0.06 0.018"/>
      </geometry>
    </collision>
  </link>
  <gazebo reference="base_lasertop">
    <material>Gazebo/Orange</material>
    <turnGravityOff>false</turnGravityOff>
  </gazebo>
  <!-- Moved laser down for the looks -->
  <joint name="torso_lasercenter_joint" type="fixed">
    <parent link="torso_laser_mount"/>
    <child link="torso_laser"/>
    <origin rpy="0.0 0.0 0.0" xyz="0.0 0.0 -0.004"/>
  </joint>
  <link name="torso_laser">
    <inertial>
      <origin rpy="0 0 0" xyz="0.0 0.0 -0.026"/>
      <mass value="0.5"/>
      <inertia ixx="0.0001" ixy="0" ixz="0" iyy="0.0001" iyz="0" izz="0.0001"/>
    </inertial>
    <visual>
      <origin rpy="0 0 0" xyz="0.0 0.0 -0.026"/>
      <geometry>
        <box size="0.06 0.06 0.069"/>
      </geometry>
      <material name="Black">
     </material>
    </visual>
    <collision>
      <origin rpy="0 0 0" xyz="0.0 0.0 -0.026"/>
      <geometry>
        <box size="0.06 0.06 0.069"/>
      </geometry>
    </collision>
  </link>
  <gazebo reference="torso_laser">
    <material>Gazebo/Black</material>
    <turnGravityOff>false</turnGravityOff>
  </gazebo>
  <joint name="torso_lasertop_joint" type="fixed">
    <parent link="torso_laser"/>
    <child link="torso_lasertop"/>
    <!--<origin xyz="0.0 0.0 0.023" rpy="0 0 0"/>-->
    <origin rpy="0 0 0" xyz="0.0 0.0 0.0175"/>
  </joint>
  <link name="torso_lasertop">
    <inertial>
      <origin rpy="0 0 0" xyz="0.0 0.0 0.0"/>
      <mass value="0.01"/>
      <inertia ixx="0.0001" ixy="0" ixz="0" iyy="0.0001" iyz="0" izz="0.0001"/>
    </inertial>
    <visual>
      <origin rpy="0 0 0" xyz="0.0 0.0 0.0"/>
      <geometry>
        <box size="0.06 0.06 0.018"/>
      </geometry>
      <material name="Orange">
     </material>
    </visual>
    <collision>
      <origin rpy="0 0 0" xyz="0.0 0.0 0.0"/>
      <geometry>
        <box size="0.06 0.06 0.018"/>
      </geometry>
    </collision>
  </link>
  <gazebo reference="torso_lasertop">
    <material>Gazebo/Orange</material>
    <turnGravityOff>false</turnGravityOff>
  </gazebo>
  <!-- GAZEBO -->
  <gazebo>
    <link name="base_fixed_link">
      <pose>0.000000 0.000000 0.000000 0.000000 0.000000 0.000000</pose>
      <inertial>
        <pose>0.000000 0.000000 0.000000 0.000000 0.000000 0.000000</pose>
        <mass>10.000000</mass>
        <inertia>
          <ixx>0.100000</ixx>
          <ixy>0.100000</ixy>
          <ixz>0.100000</ixz>
          <iyy>0.100000</iyy>
          <iyz>0.100000</iyz>
          <izz>0.100000</izz>
        </inertia>
      </inertial>
      <velocity_decay>
        <linear>0.000000</linear>
        <angular>0.000000</angular>
      </velocity_decay>
    </link>
    <joint name="base_fixed_joint" type="revolute">
      <child>base_fixed_link</child>
      <parent>world</parent>
      <axis>
        <limit>
          <lower>0.000000</lower>
          <upper>0.000000</upper>
        </limit>
        <dynamics>
          <damping>0.000000</damping>
        </dynamics>
        <xyz>0.000000 0.000000 1.000000</xyz>
      </axis>
    </joint>
    <link name="base_x_link">
      <pose>0.000000 0.000000 0.000000 0.000000 0.000000 0.000000</pose>
      <inertial>
        <pose>0.000000 0.000000 0.000000 0.000000 0.000000 0.000000</pose>
        <mass>10.000000</mass>
        <inertia>
          <ixx>0.100000</ixx>
          <ixy>0.100000</ixy>
          <ixz>0.100000</ixz>
          <iyy>0.100000</iyy>
          <iyz>0.100000</iyz>
          <izz>0.100000</izz>
        </inertia>
      </inertial>
      <velocity_decay>
        <linear>0.000000</linear>
        <angular>0.000000</angular>
      </velocity_decay>
    </link>
    <joint name="base_x_joint" type="prismatic">
      <child>base_x_link</child>
      <parent>base_fixed_link</parent>
      <axis>
        <xyz>1.000000 0.000000 0.000000</xyz>
        <limit>
          <lower>-1000.000000</lower>
          <upper>1000.000000</upper>
        </limit>
        <dynamics>
          <damping>100.000000</damping>
        </dynamics>
      </axis>
    </joint>
    <link name="base_y_link">
      <pose>0.000000 0.000000 0.000000 0.000000 0.000000 0.000000</pose>
      <inertial>
        <pose>0.000000 0.000000 0.000000 0.000000 0.000000 0.000000</pose>
        <mass>10.000000</mass>
        <inertia>
          <ixx>0.100000</ixx>
          <ixy>0.100000</ixy>
          <ixz>0.100000</ixz>
          <iyy>0.100000</iyy>
          <iyz>0.100000</iyz>
          <izz>0.100000</izz>
        </inertia>
      </inertial>
      <velocity_decay>
        <linear>0.000000</linear>
        <angular>0.000000</angular>
      </velocity_decay>
    </link>
    <joint name="base_y_joint" type="prismatic">
      <child>base_y_link</child>
      <parent>base_x_link</parent>
      <axis>
        <xyz>0.000000 1.000000 0.000000</xyz>
        <limit>
          <lower>-1000.000000</lower>
          <upper>1000.000000</upper>
        </limit>
        <dynamics>
          <damping>100.000000</damping>
        </dynamics>
      </axis>
    </joint>
    <joint name="base_phi_joint" type="revolute">
      <child>base_link</child>
      <parent>base_y_link</parent>
      <axis>
        <xyz>0.000000 0.000000 1.000000</xyz>
        <limit>
          <lower>-10000000000000000.000000</lower>
          <upper>10000000000000000.000000</upper>
        </limit>
        <dynamics>
          <damping>100.000000</damping>
        </dynamics>
      </axis>
    </joint>
  </gazebo>
  <gazebo reference="base_link">
    <sensor name="base_kinect_openni_camera" type="depth">
      <update_rate>20.000000</update_rate>
      <camera name="base_kinect">
        <horizontal_fov>1.047198</horizontal_fov>
        <image>
          <width>640</width>
          <height>480</height>
          <format>R8G8B8</format>
        </image>
        <clip>
          <near>0.050000</near>
          <far>3.000000</far>
        </clip>
      </camera>
      <plugin filename="libKinectPlugin.so" name="base_kinect_camera_controller">
        <alwaysOn>1</alwaysOn>
        <updateRate>20</updateRate>
        <cameraName>base_kinect</cameraName>
        <imageTopicName>rgb/image_color</imageTopicName>
        <cameraInfoTopicName>rgb/camera_info</cameraInfoTopicName>
        <depthImageTopicName>depth/image</depthImageTopicName>
        <depthImageCameraInfoTopicName>depth/camera_info</depthImageCameraInfoTopicName>
        <pointCloudTopicName>rgb/points</pointCloudTopicName>
        <frameName>base_kinect/openni_depth_optical_frame</frameName>
      </plugin>
      <pose>0.300000 0.000000 0.315000 0.000000 -0.070000 0.000000</pose>
    </sensor>
    <sensor name="base_ray_sensor" type="ray">
      <update_rate>100.000000</update_rate>
      <ray>
        <scan>
          <horizontal>
            <samples>918</samples>
            <resolution>1.000000</resolution>
            <min_angle>-2.0027654171</min_angle>
            <max_angle>1.99840199947</max_angle>
          </horizontal>
          <vertical>
            <samples>1</samples>
            <min_angle>0.000000</min_angle>
            <max_angle>0.000000</max_angle>
          </vertical>
        </scan>
        <range>
          <min>0.05</min>
          <max>60.0</max>
          <resolution>0.010000</resolution>
        </range>
      </ray>
      <plugin filename="libLaserPlugin.so" name="base_ros_ray_sensor_controller">
        <gaussianNoise>0.005</gaussianNoise>
        <alwaysOn>1</alwaysOn>
        <updateRate>40</updateRate>
        <topicName>base_front_laser</topicName>
        <node_namespace>base</node_namespace>
        <frameName>base_laser</frameName>
      </plugin>
      <pose>0.329500 0.000000 0.230000 0.00000 0.000000 0.000000</pose>
    </sensor>
  </gazebo>
  <gazebo reference="head">
    <sensor name="openni_camera" type="depth">
      <update_rate>20.000000</update_rate>
      <camera name="top_kinect">
        <horizontal_fov>1.047198</horizontal_fov>
        <image>
          <width>640</width>
          <height>480</height>
          <format>R8G8B8</format>
        </image>
        <clip>
          <near>0.050000</near>
          <far>3.000000</far>
        </clip>
      </camera>
      <plugin filename="libKinectPlugin.so" name="kinect_camera_controller">
        <alwaysOn>1</alwaysOn>
        <updateRate>20</updateRate>
        <cameraName>top_kinect</cameraName>
        <imageTopicName>rgb/image_color</imageTopicName>
        <cameraInfoTopicName>rgb/camera_info</cameraInfoTopicName>
        <depthImageTopicName>depth/image</depthImageTopicName>
        <depthImageCameraInfoTopicName>depth/camera_info</depthImageCameraInfoTopicName>
        <pointCloudTopicName>rgb/points</pointCloudTopicName>
        <frameName>top_kinect/openni_depth_optical_frame</frameName>
      </plugin>
      <pose>0.019000 0.000000 0.017000 0.000000 0.000000 0.000000</pose>
    </sensor>
  </gazebo>
  <gazebo>
    <plugin filename="libPositionController.so" name="position_controller">
      <package>sergio_description</package>
      <group_summary_file>custom/joint_groups.yaml</group_summary_file>
    </plugin>
    <plugin filename="libSergioBaseController.so" name="base_controller">
      <package>sergio_controller_configuration_gazebo</package>
      <parameter_file>/parameters/base_controller.yaml</parameter_file>
      <node_namespace>base</node_namespace>
      <odomTopic>/sergio/base/measurements</odomTopic>
    </plugin>
    <plugin filename="libAmigoGripperController.so" name="left_gripper_controller">
      <side>left</side>
      <referenceTopic>/sergio/left_gripper/references</referenceTopic>
      <measurementTopic>/sergio/left_gripper/measurements</measurementTopic>
    </plugin>
    <plugin filename="libAmigoGripperController.so" name="right_gripper_controller">
      <side>right</side>
      <referenceTopic>/sergio/right_gripper/references</referenceTopic>
      <measurementTopic>/sergio/right_gripper/measurements</measurementTopic>
    </plugin>
  </gazebo>
</robot>
